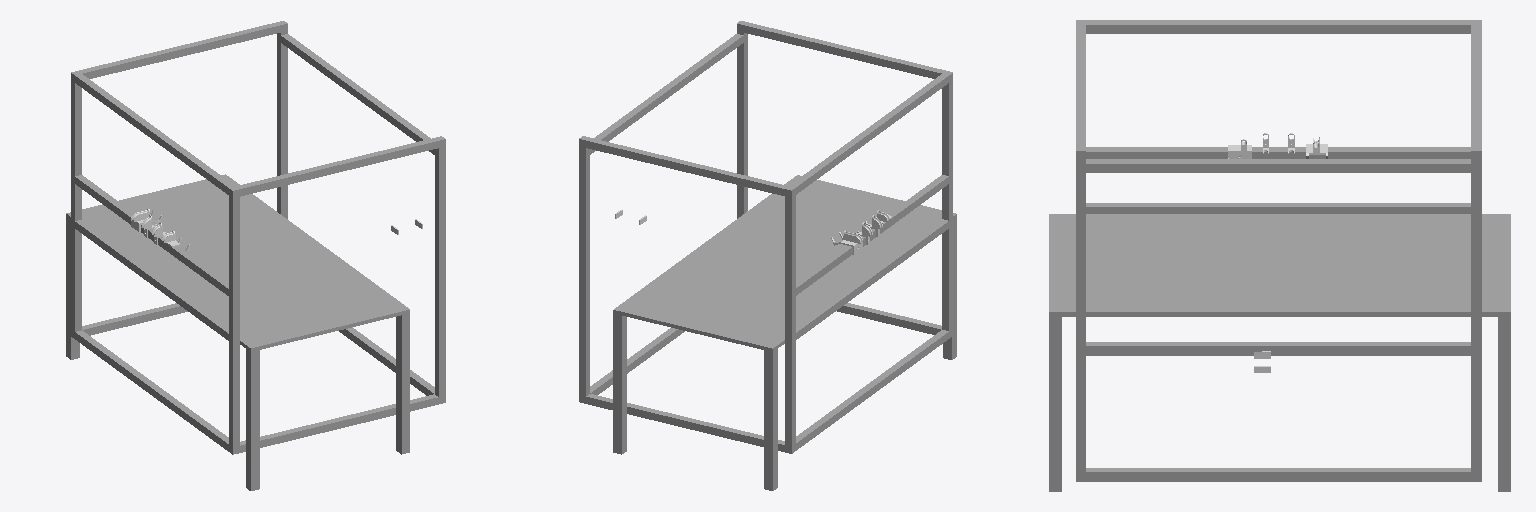
--- Facts derived from the render (not from the file) ---
Views: 3 orthographic renders of the robot side by side, from view 1: azimuth 30°, elevation 25°; view 2: azimuth 150°, elevation 25°; view 3: azimuth 270°, elevation 25°.
Model a_bot_base_scene with 82 links and 81 joints (12 revolute, 69 fixed), rooted at world, posed all joints at 0.
Visible links, largest first — view 1: workspace_table_top, cage_front_left_pillar, cage_front_right_pillar, cage_back_left_pillar, cage_upper_front_bar, cage_upper_back_bar, cage_upper_left_bar, cage_lower_left_bar, cage_workspace_bar, cage_upper_right_bar, workspace_table_base_link, cage_lower_front_bar (+6 smaller); view 2: workspace_table_top, cage_back_left_pillar, cage_back_right_pillar, cage_front_left_pillar, cage_upper_back_bar, cage_upper_front_bar, cage_upper_left_bar, cage_lower_left_bar, cage_workspace_bar, cage_upper_right_bar, workspace_table_leg2, cage_lower_back_bar (+6 smaller); view 3: workspace_table_top, cage_lower_right_bar, cage_upper_left_bar, cage_upper_right_bar, cage_lower_left_bar, cage_workspace_bar, cage_tool_bar, cage_back_right_pillar, cage_front_right_pillar, workspace_table_leg1, workspace_table_leg3, cage_upper_back_bar (+1 smaller).
Boxes of the visible links, <box> form: workspace_table_top: <box>66,174,409,351</box>; cage_front_left_pillar: <box>229,186,239,454</box>; cage_front_right_pillar: <box>435,136,445,403</box>; cage_back_left_pillar: <box>71,71,81,338</box>; cage_upper_front_bar: <box>236,138,438,196</box>; cage_upper_back_bar: <box>79,22,280,78</box>; cage_upper_left_bar: <box>75,74,234,194</box>; cage_lower_left_bar: <box>75,330,228,451</box>; cage_workspace_bar: <box>75,220,228,340</box>; cage_upper_right_bar: <box>281,34,434,154</box>; workspace_table_base_link: <box>246,349,259,490</box>; cage_lower_front_bar: <box>240,394,438,452</box>; workspace_table_top: <box>613,175,956,351</box>; cage_back_left_pillar: <box>785,186,795,453</box>; cage_back_right_pillar: <box>579,136,589,403</box>; cage_front_left_pillar: <box>942,71,952,338</box>; cage_upper_back_bar: <box>586,138,787,195</box>; cage_upper_front_bar: <box>744,22,945,78</box>; cage_upper_left_bar: <box>789,74,948,194</box>; cage_lower_left_bar: <box>796,330,948,450</box>; cage_workspace_bar: <box>796,219,948,339</box>; cage_upper_right_bar: <box>590,34,743,154</box>; workspace_table_leg2: <box>764,349,777,490</box>; cage_lower_back_bar: <box>586,394,784,451</box>; workspace_table_top: <box>1049,214,1510,316</box>; cage_lower_right_bar: <box>1086,468,1470,481</box>; cage_upper_left_bar: <box>1086,20,1470,33</box>; cage_upper_right_bar: <box>1086,159,1470,172</box>; cage_lower_left_bar: <box>1086,342,1470,355</box>; cage_workspace_bar: <box>1086,203,1470,213</box>; cage_tool_bar: <box>1086,147,1470,158</box>; cage_back_right_pillar: <box>1471,146,1481,481</box>; cage_front_right_pillar: <box>1076,146,1085,481</box>; workspace_table_leg1: <box>1049,317,1061,491</box>; workspace_table_leg3: <box>1498,317,1510,491</box>; cage_upper_back_bar: <box>1471,25,1481,145</box>.
Bounding box of the posed robot: 1.5 × 1.8 × 1.58 m (x, y, z).
Meshes: 19 distinct files referenced, 4 mesh visuals loaded (3 binary STL); not drawn: 21 (reference not matched to a file when rendering).

URDF robot description (a_bot_base_scene):
<?xml version="1.0" ?>
<!-- =================================================================================== -->
<!-- |    This document was autogenerated by xacro from /root/noetic/catkin_ws/src/artros/aist_description/scenes/urdf/a_bot_base_scene.urdf.xacro | -->
<!-- |    EDITING THIS FILE BY HAND IS NOT RECOMMENDED                                 | -->
<!-- =================================================================================== -->
<robot name="a_bot_base_scene">
    <!-- or "VelocityJointInterface" -->
    <!-- ground -->
    <link name="ground" />
    <link name="cage_front_left_pillar">
        <!-- w is in x, l is in y, h is in z -->
        <visual>
            <origin rpy="0 0 0" xyz="0.02 0.02 0.71" />
            <geometry>
                <box size="0.04 0.04 1.42" />
            </geometry>
            <material name="aist_color">
                <color rgba="0.7 0.7 0.7 1" />
            </material>
        </visual>
        <collision>
            <origin rpy="0 0 0" xyz="0.02 0.02 0.71" />
            <geometry>
                <box size="0.04 0.04 1.42" />
            </geometry>
        </collision>
        <!-- This is required for Gazebo. -->
        <inertial>
            <mass value="1.0" />
            <!-- <origin xyz="${width/2} ${length} ${height/2}" rpy="0 0 0"/> -->
            <inertia ixx="0.0" ixy="0.0" ixz="0.0" iyy="0.0" iyz="0.0" izz="0.0" />
            <origin xyz="0 0 0" rpy="0 0 0" />
        </inertial>
    </link>
    <gazebo reference="cage_front_left_pillar">
        <material>Gazebo/aist_color</material>
        <plugin name="gazebo_ros_control" filename="libgazebo_ros_control.so">
            <robotNamespace>/</robotNamespace>
        </plugin>
    </gazebo>
    <joint name="cage_front_left_pillar" type="fixed">
        <parent link="ground" />
        <child link="cage_front_left_pillar" />
        <origin rpy="0 0 0" xyz="-0.585    -0.795    0.164" />
    </joint>
    <link name="cage_front_right_pillar">
        <!-- w is in x, l is in y, h is in z -->
        <visual>
            <origin rpy="0 0 0" xyz="0.02 0.02 0.71" />
            <geometry>
                <box size="0.04 0.04 1.42" />
            </geometry>
            <material name="aist_color">
                <color rgba="0.7 0.7 0.7 1" />
            </material>
        </visual>
        <collision>
            <origin rpy="0 0 0" xyz="0.02 0.02 0.71" />
            <geometry>
                <box size="0.04 0.04 1.42" />
            </geometry>
        </collision>
        <!-- This is required for Gazebo. -->
        <inertial>
            <mass value="1.0" />
            <!-- <origin xyz="${width/2} ${length} ${height/2}" rpy="0 0 0"/> -->
            <inertia ixx="0.0" ixy="0.0" ixz="0.0" iyy="0.0" iyz="0.0" izz="0.0" />
            <origin xyz="0 0 0" rpy="0 0 0" />
        </inertial>
    </link>
    <gazebo reference="cage_front_right_pillar">
        <material>Gazebo/aist_color</material>
    </gazebo>
    <joint name="cage_front_right_pillar" type="fixed">
        <parent link="cage_front_left_pillar" />
        <child link="cage_front_right_pillar" />
        <origin rpy="0 0 0" xyz="1.16 0 0" />
    </joint>
    <link name="cage_back_left_pillar">
        <!-- w is in x, l is in y, h is in z -->
        <visual>
            <origin rpy="0 0 0" xyz="0.02 0.02 0.71" />
            <geometry>
                <box size="0.04 0.04 1.42" />
            </geometry>
            <material name="aist_color">
                <color rgba="0.7 0.7 0.7 1" />
            </material>
        </visual>
        <collision>
            <origin rpy="0 0 0" xyz="0.02 0.02 0.71" />
            <geometry>
                <box size="0.04 0.04 1.42" />
            </geometry>
        </collision>
        <!-- This is required for Gazebo. -->
        <inertial>
            <mass value="1.0" />
            <!-- <origin xyz="${width/2} ${length} ${height/2}" rpy="0 0 0"/> -->
            <inertia ixx="0.0" ixy="0.0" ixz="0.0" iyy="0.0" iyz="0.0" izz="0.0" />
            <origin xyz="0 0 0" rpy="0 0 0" />
        </inertial>
    </link>
    <gazebo reference="cage_back_left_pillar">
        <material>Gazebo/aist_color</material>
    </gazebo>
    <joint name="cage_back_left_pillar" type="fixed">
        <parent link="cage_front_left_pillar" />
        <child link="cage_back_left_pillar" />
        <origin rpy="0 0 0" xyz="0 1.54 0" />
    </joint>
    <link name="cage_back_right_pillar">
        <!-- w is in x, l is in y, h is in z -->
        <visual>
            <origin rpy="0 0 0" xyz="0.02 0.02 0.71" />
            <geometry>
                <box size="0.04 0.04 1.42" />
            </geometry>
            <material name="aist_color">
                <color rgba="0.7 0.7 0.7 1" />
            </material>
        </visual>
        <collision>
            <origin rpy="0 0 0" xyz="0.02 0.02 0.71" />
            <geometry>
                <box size="0.04 0.04 1.42" />
            </geometry>
        </collision>
        <!-- This is required for Gazebo. -->
        <inertial>
            <mass value="1.0" />
            <!-- <origin xyz="${width/2} ${length} ${height/2}" rpy="0 0 0"/> -->
            <inertia ixx="0.0" ixy="0.0" ixz="0.0" iyy="0.0" iyz="0.0" izz="0.0" />
            <origin xyz="0 0 0" rpy="0 0 0" />
        </inertial>
    </link>
    <gazebo reference="cage_back_right_pillar">
        <material>Gazebo/aist_color</material>
    </gazebo>
    <joint name="cage_back_right_pillar" type="fixed">
        <parent link="cage_front_left_pillar" />
        <child link="cage_back_right_pillar" />
        <origin rpy="0 0 0" xyz="1.16        1.54        0" />
    </joint>
    <link name="cage_lower_front_bar">
        <!-- w is in x, l is in y, h is in z -->
        <visual>
            <origin rpy="0 0 0" xyz="0.5599999999999999 0.02 0.02" />
            <geometry>
                <box size="1.1199999999999999 0.04 0.04" />
            </geometry>
            <material name="aist_color">
                <color rgba="0.7 0.7 0.7 1" />
            </material>
        </visual>
        <collision>
            <origin rpy="0 0 0" xyz="0.5599999999999999 0.02 0.02" />
            <geometry>
                <box size="1.1199999999999999 0.04 0.04" />
            </geometry>
        </collision>
        <!-- This is required for Gazebo. -->
        <inertial>
            <mass value="1.0" />
            <!-- <origin xyz="${width/2} ${length} ${height/2}" rpy="0 0 0"/> -->
            <inertia ixx="0.0" ixy="0.0" ixz="0.0" iyy="0.0" iyz="0.0" izz="0.0" />
            <origin xyz="0 0 0" rpy="0 0 0" />
        </inertial>
    </link>
    <gazebo reference="cage_lower_front_bar">
        <material>Gazebo/aist_color</material>
    </gazebo>
    <joint name="cage_lower_front_bar" type="fixed">
        <parent link="cage_front_left_pillar" />
        <child link="cage_lower_front_bar" />
        <origin rpy="0 0 0" xyz="0.04 0 0" />
    </joint>
    <link name="cage_lower_back_bar">
        <!-- w is in x, l is in y, h is in z -->
        <visual>
            <origin rpy="0 0 0" xyz="0.5599999999999999 0.02 0.02" />
            <geometry>
                <box size="1.1199999999999999 0.04 0.04" />
            </geometry>
            <material name="aist_color">
                <color rgba="0.7 0.7 0.7 1" />
            </material>
        </visual>
        <collision>
            <origin rpy="0 0 0" xyz="0.5599999999999999 0.02 0.02" />
            <geometry>
                <box size="1.1199999999999999 0.04 0.04" />
            </geometry>
        </collision>
        <!-- This is required for Gazebo. -->
        <inertial>
            <mass value="1.0" />
            <!-- <origin xyz="${width/2} ${length} ${height/2}" rpy="0 0 0"/> -->
            <inertia ixx="0.0" ixy="0.0" ixz="0.0" iyy="0.0" iyz="0.0" izz="0.0" />
            <origin xyz="0 0 0" rpy="0 0 0" />
        </inertial>
    </link>
    <gazebo reference="cage_lower_back_bar">
        <material>Gazebo/aist_color</material>
    </gazebo>
    <joint name="cage_lower_back_bar" type="fixed">
        <parent link="cage_front_left_pillar" />
        <child link="cage_lower_back_bar" />
        <origin rpy="0 0 0" xyz="0.04 1.54 0" />
    </joint>
    <link name="cage_lower_left_bar">
        <!-- w is in x, l is in y, h is in z -->
        <visual>
            <origin rpy="0 0 0" xyz="0.02 0.75 0.02" />
            <geometry>
                <box size="0.04 1.5 0.04" />
            </geometry>
            <material name="aist_color">
                <color rgba="0.7 0.7 0.7 1" />
            </material>
        </visual>
        <collision>
            <origin rpy="0 0 0" xyz="0.02 0.75 0.02" />
            <geometry>
                <box size="0.04 1.5 0.04" />
            </geometry>
        </collision>
        <!-- This is required for Gazebo. -->
        <inertial>
            <mass value="1.0" />
            <!-- <origin xyz="${width/2} ${length} ${height/2}" rpy="0 0 0"/> -->
            <inertia ixx="0.0" ixy="0.0" ixz="0.0" iyy="0.0" iyz="0.0" izz="0.0" />
            <origin xyz="0 0 0" rpy="0 0 0" />
        </inertial>
    </link>
    <gazebo reference="cage_lower_left_bar">
        <material>Gazebo/aist_color</material>
    </gazebo>
    <joint name="cage_lower_left_bar" type="fixed">
        <parent link="cage_front_left_pillar" />
        <child link="cage_lower_left_bar" />
        <origin rpy="0 0 0" xyz="0 0.04 0" />
    </joint>
    <link name="cage_lower_right_bar">
        <!-- w is in x, l is in y, h is in z -->
        <visual>
            <origin rpy="0 0 0" xyz="0.02 0.75 0.02" />
            <geometry>
                <box size="0.04 1.5 0.04" />
            </geometry>
            <material name="aist_color">
                <color rgba="0.7 0.7 0.7 1" />
            </material>
        </visual>
        <collision>
            <origin rpy="0 0 0" xyz="0.02 0.75 0.02" />
            <geometry>
                <box size="0.04 1.5 0.04" />
            </geometry>
        </collision>
        <!-- This is required for Gazebo. -->
        <inertial>
            <mass value="1.0" />
            <!-- <origin xyz="${width/2} ${length} ${height/2}" rpy="0 0 0"/> -->
            <inertia ixx="0.0" ixy="0.0" ixz="0.0" iyy="0.0" iyz="0.0" izz="0.0" />
            <origin xyz="0 0 0" rpy="0 0 0" />
        </inertial>
    </link>
    <gazebo reference="cage_lower_right_bar">
        <material>Gazebo/aist_color</material>
    </gazebo>
    <joint name="cage_lower_right_bar" type="fixed">
        <parent link="cage_front_left_pillar" />
        <child link="cage_lower_right_bar" />
        <origin rpy="0 0 0" xyz="1.16 0.04 0" />
    </joint>
    <link name="cage_upper_front_bar">
        <!-- w is in x, l is in y, h is in z -->
        <visual>
            <origin rpy="0 0 0" xyz="0.5599999999999999 0.02 0.02" />
            <geometry>
                <box size="1.1199999999999999 0.04 0.04" />
            </geometry>
            <material name="aist_color">
                <color rgba="0.7 0.7 0.7 1" />
            </material>
        </visual>
        <collision>
            <origin rpy="0 0 0" xyz="0.5599999999999999 0.02 0.02" />
            <geometry>
                <box size="1.1199999999999999 0.04 0.04" />
            </geometry>
        </collision>
        <!-- This is required for Gazebo. -->
        <inertial>
            <mass value="1.0" />
            <!-- <origin xyz="${width/2} ${length} ${height/2}" rpy="0 0 0"/> -->
            <inertia ixx="0.0" ixy="0.0" ixz="0.0" iyy="0.0" iyz="0.0" izz="0.0" />
            <origin xyz="0 0 0" rpy="0 0 0" />
        </inertial>
    </link>
    <gazebo reference="cage_upper_front_bar">
        <material>Gazebo/aist_color</material>
    </gazebo>
    <joint name="cage_upper_front_bar" type="fixed">
        <parent link="cage_front_left_pillar" />
        <child link="cage_upper_front_bar" />
        <origin rpy="0 0 0" xyz="0.04 0 1.38" />
    </joint>
    <link name="cage_upper_back_bar">
        <!-- w is in x, l is in y, h is in z -->
        <visual>
            <origin rpy="0 0 0" xyz="0.5599999999999999 0.02 0.02" />
            <geometry>
                <box size="1.1199999999999999 0.04 0.04" />
            </geometry>
            <material name="aist_color">
                <color rgba="0.7 0.7 0.7 1" />
            </material>
        </visual>
        <collision>
            <origin rpy="0 0 0" xyz="0.5599999999999999 0.02 0.02" />
            <geometry>
                <box size="1.1199999999999999 0.04 0.04" />
            </geometry>
        </collision>
        <!-- This is required for Gazebo. -->
        <inertial>
            <mass value="1.0" />
            <!-- <origin xyz="${width/2} ${length} ${height/2}" rpy="0 0 0"/> -->
            <inertia ixx="0.0" ixy="0.0" ixz="0.0" iyy="0.0" iyz="0.0" izz="0.0" />
            <origin xyz="0 0 0" rpy="0 0 0" />
        </inertial>
    </link>
    <gazebo reference="cage_upper_back_bar">
        <material>Gazebo/aist_color</material>
    </gazebo>
    <joint name="cage_upper_back_bar" type="fixed">
        <parent link="cage_front_left_pillar" />
        <child link="cage_upper_back_bar" />
        <origin rpy="0 0 0" xyz="0.04 1.54 1.38" />
    </joint>
    <link name="cage_upper_left_bar">
        <!-- w is in x, l is in y, h is in z -->
        <visual>
            <origin rpy="0 0 0" xyz="0.02 0.75 0.02" />
            <geometry>
                <box size="0.04 1.5 0.04" />
            </geometry>
            <material name="aist_color">
                <color rgba="0.7 0.7 0.7 1" />
            </material>
        </visual>
        <collision>
            <origin rpy="0 0 0" xyz="0.02 0.75 0.02" />
            <geometry>
                <box size="0.04 1.5 0.04" />
            </geometry>
        </collision>
        <!-- This is required for Gazebo. -->
        <inertial>
            <mass value="1.0" />
            <!-- <origin xyz="${width/2} ${length} ${height/2}" rpy="0 0 0"/> -->
            <inertia ixx="0.0" ixy="0.0" ixz="0.0" iyy="0.0" iyz="0.0" izz="0.0" />
            <origin xyz="0 0 0" rpy="0 0 0" />
        </inertial>
    </link>
    <gazebo reference="cage_upper_left_bar">
        <material>Gazebo/aist_color</material>
    </gazebo>
    <joint name="cage_upper_left_bar" type="fixed">
        <parent link="cage_front_left_pillar" />
        <child link="cage_upper_left_bar" />
        <origin rpy="0 0 0" xyz="0 0.04 1.38" />
    </joint>
    <link name="cage_upper_right_bar">
        <!-- w is in x, l is in y, h is in z -->
        <visual>
            <origin rpy="0 0 0" xyz="0.02 0.75 0.02" />
            <geometry>
                <box size="0.04 1.5 0.04" />
            </geometry>
            <material name="aist_color">
                <color rgba="0.7 0.7 0.7 1" />
            </material>
        </visual>
        <collision>
            <origin rpy="0 0 0" xyz="0.02 0.75 0.02" />
            <geometry>
                <box size="0.04 1.5 0.04" />
            </geometry>
        </collision>
        <!-- This is required for Gazebo. -->
        <inertial>
            <mass value="1.0" />
            <!-- <origin xyz="${width/2} ${length} ${height/2}" rpy="0 0 0"/> -->
            <inertia ixx="0.0" ixy="0.0" ixz="0.0" iyy="0.0" iyz="0.0" izz="0.0" />
            <origin xyz="0 0 0" rpy="0 0 0" />
        </inertial>
    </link>
    <gazebo reference="cage_upper_right_bar">
        <material>Gazebo/aist_color</material>
    </gazebo>
    <joint name="cage_upper_right_bar" type="fixed">
        <parent link="cage_front_left_pillar" />
        <child link="cage_upper_right_bar" />
        <origin rpy="0 0 0" xyz="1.16 0.04 1.325" />
    </joint>
    <link name="cage_workspace_bar">
        <!-- w is in x, l is in y, h is in z -->
        <visual>
            <origin rpy="0 0 0" xyz="0.02 0.75 0.02" />
            <geometry>
                <box size="0.04 1.5 0.04" />
            </geometry>
            <material name="aist_color">
                <color rgba="0.7 0.7 0.7 1" />
            </material>
        </visual>
        <collision>
            <origin rpy="0 0 0" xyz="0.02 0.75 0.02" />
            <geometry>
                <box size="0.04 1.5 0.04" />
            </geometry>
        </collision>
        <!-- This is required for Gazebo. -->
        <inertial>
            <mass value="1.0" />
            <!-- <origin xyz="${width/2} ${length} ${height/2}" rpy="0 0 0"/> -->
            <inertia ixx="0.0" ixy="0.0" ixz="0.0" iyy="0.0" iyz="0.0" izz="0.0" />
            <origin xyz="0 0 0" rpy="0 0 0" />
        </inertial>
    </link>
    <gazebo reference="cage_workspace_bar">
        <material>Gazebo/aist_color</material>
    </gazebo>
    <joint name="cage_workspace_bar" type="fixed">
        <parent link="cage_lower_left_bar" />
        <child link="cage_workspace_bar" />
        <origin rpy="0 0 0" xyz="0 0 0.596" />
    </joint>
    <link name="cage_tool_bar">
        <!-- w is in x, l is in y, h is in z -->
        <visual>
            <origin rpy="0 0 0" xyz="0.02 0.75 0.02" />
            <geometry>
                <box size="0.04 1.5 0.04" />
            </geometry>
            <material name="aist_color">
                <color rgba="0.7 0.7 0.7 1" />
            </material>
        </visual>
        <collision>
            <origin rpy="0 0 0" xyz="0.02 0.75 0.02" />
            <geometry>
                <box size="0.04 1.5 0.04" />
            </geometry>
        </collision>
        <!-- This is required for Gazebo. -->
        <inertial>
            <mass value="1.0" />
            <!-- <origin xyz="${width/2} ${length} ${height/2}" rpy="0 0 0"/> -->
            <inertia ixx="0.0" ixy="0.0" ixz="0.0" iyy="0.0" iyz="0.0" izz="0.0" />
            <origin xyz="0 0 0" rpy="0 0 0" />
        </inertial>
    </link>
    <gazebo reference="cage_tool_bar">
        <material>Gazebo/aist_color</material>
    </gazebo>
    <joint name="cage_tool_bar" type="fixed">
        <parent link="cage_workspace_bar" />
        <child link="cage_tool_bar" />
        <origin rpy="0 0 0" xyz="0 0 0.24" />
    </joint>
    <link name="workspace_table_base_link">
        <!-- w is in x, l is in y, h is in z -->
        <visual>
            <origin rpy="0 0 0" xyz="0.025 0.025 0.375" />
            <geometry>
                <box size="0.05 0.05 0.75" />
            </geometry>
            <material name="aist_color">
                <color rgba="0.7 0.7 0.7 1" />
            </material>
        </visual>
        <collision>
            <origin rpy="0 0 0" xyz="0.025 0.025 0.375" />
            <geometry>
                <box size="0.05 0.05 0.75" />
            </geometry>
        </collision>
        <!-- This is required for Gazebo. -->
        <inertial>
            <mass value="1.0" />
            <!-- <origin xyz="${width/2} ${length} ${height/2}" rpy="0 0 0"/> -->
            <inertia ixx="0.0" ixy="0.0" ixz="0.0" iyy="0.0" iyz="0.0" izz="0.0" />
            <origin xyz="0 0 0" rpy="0 0 0" />
        </inertial>
    </link>
    <gazebo reference="workspace_table_base_link">
        <material>Gazebo/aist_color</material>
    </gazebo>
    <joint name="workspace_table_base_link" type="fixed">
        <parent link="ground" />
        <child link="workspace_table_base_link" />
        <origin rpy="0 0 0" xyz="-0.5449999999999999 -0.9 0" />
    </joint>
    <link name="workspace_table_leg1">
        <!-- w is in x, l is in y, h is in z -->
        <visual>
            <origin rpy="0 0 0" xyz="0.025 0.025 0.375" />
            <geometry>
                <box size="0.05 0.05 0.75" />
            </geometry>
            <material name="aist_color">
                <color rgba="0.7 0.7 0.7 1" />
            </material>
        </visual>
        <collision>
            <origin rpy="0 0 0" xyz="0.025 0.025 0.375" />
            <geometry>
                <box size="0.05 0.05 0.75" />
            </geometry>
        </collision>
        <!-- This is required for Gazebo. -->
        <inertial>
            <mass value="1.0" />
            <!-- <origin xyz="${width/2} ${length} ${height/2}" rpy="0 0 0"/> -->
            <inertia ixx="0.0" ixy="0.0" ixz="0.0" iyy="0.0" iyz="0.0" izz="0.0" />
            <origin xyz="0 0 0" rpy="0 0 0" />
        </inertial>
    </link>
    <gazebo reference="workspace_table_leg1">
        <material>Gazebo/aist_color</material>
    </gazebo>
    <joint name="workspace_table_leg1" type="fixed">
        <parent link="workspace_table_base_link" />
        <child link="workspace_table_leg1" />
        <origin rpy="0 0 0" xyz="0.85 0 0" />
    </joint>
    <link name="workspace_table_leg2">
        <!-- w is in x, l is in y, h is in z -->
        <visual>
            <origin rpy="0 0 0" xyz="0.025 0.025 0.375" />
            <geometry>
                <box size="0.05 0.05 0.75" />
            </geometry>
            <material name="aist_color">
                <color rgba="0.7 0.7 0.7 1" />
            </material>
        </visual>
        <collision>
            <origin rpy="0 0 0" xyz="0.025 0.025 0.375" />
            <geometry>
                <box size="0.05 0.05 0.75" />
            </geometry>
        </collision>
        <!-- This is required for Gazebo. -->
        <inertial>
            <mass value="1.0" />
            <!-- <origin xyz="${width/2} ${length} ${height/2}" rpy="0 0 0"/> -->
            <inertia ixx="0.0" ixy="0.0" ixz="0.0" iyy="0.0" iyz="0.0" izz="0.0" />
            <origin xyz="0 0 0" rpy="0 0 0" />
        </inertial>
    </link>
    <gazebo reference="workspace_table_leg2">
        <material>Gazebo/aist_color</material>
    </gazebo>
    <joint name="workspace_table_leg2" type="fixed">
        <parent link="workspace_table_base_link" />
        <child link="workspace_table_leg2" />
        <origin rpy="0 0 0" xyz="0 1.75 0" />
    </joint>
    <link name="workspace_table_leg3">
        <!-- w is in x, l is in y, h is in z -->
        <visual>
            <origin rpy="0 0 0" xyz="0.025 0.025 0.375" />
            <geometry>
                <box size="0.05 0.05 0.75" />
            </geometry>
            <material name="aist_color">
                <color rgba="0.7 0.7 0.7 1" />
            </material>
        </visual>
        <collision>
            <origin rpy="0 0 0" xyz="0.025 0.025 0.375" />
            <geometry>
                <box size="0.05 0.05 0.75" />
            </geometry>
        </collision>
        <!-- This is required for Gazebo. -->
        <inertial>
            <mass value="1.0" />
            <!-- <origin xyz="${width/2} ${length} ${height/2}" rpy="0 0 0"/> -->
            <inertia ixx="0.0" ixy="0.0" ixz="0.0" iyy="0.0" iyz="0.0" izz="0.0" />
            <origin xyz="0 0 0" rpy="0 0 0" />
        </inertial>
    </link>
    <gazebo reference="workspace_table_leg3">
        <material>Gazebo/aist_color</material>
    </gazebo>
    <joint name="workspace_table_leg3" type="fixed">
        <parent link="workspace_table_base_link" />
        <child link="workspace_table_leg3" />
        <origin rpy="0 0 0" xyz="0.85      1.75      0" />
    </joint>
    <link name="workspace_table_top">
        <!-- w is in x, l is in y, h is in z -->
        <visual>
            <origin rpy="0 0 0" xyz="0.45 0.9 0.01" />
            <geometry>
                <box size="0.9 1.8 0.02" />
            </geometry>
            <material name="aist_color">
                <color rgba="0.7 0.7 0.7 1" />
            </material>
        </visual>
        <collision>
            <origin rpy="0 0 0" xyz="0.45 0.9 0.01" />
            <geometry>
                <box size="0.9 1.8 0.02" />
            </geometry>
        </collision>
        <!-- This is required for Gazebo. -->
        <inertial>
            <mass value="1.0" />
            <!-- <origin xyz="${width/2} ${length} ${height/2}" rpy="0 0 0"/> -->
            <inertia ixx="0.0" ixy="0.0" ixz="0.0" iyy="0.0" iyz="0.0" izz="0.0" />
            <origin xyz="0 0 0" rpy="0 0 0" />
        </inertial>
    </link>
    <gazebo reference="workspace_table_top">
        <material>Gazebo/aist_color</material>
    </gazebo>
    <joint name="workspace_table_top" type="fixed">
        <parent link="workspace_table_base_link" />
        <child link="workspace_table_top" />
        <origin rpy="0 0 0" xyz="0 0 0.75" />
    </joint>
    <joint name="workspace_table_top_origin_joint" type="fixed">
        <parent link="workspace_table_top" />
        <child link="workspace_table_top_origin" />
        <origin rpy="0 0 0" xyz="0 0 0.02" />
    </joint>
    <link name="workspace_table_top_origin" />
    <joint name="workspace_table_top_center_joint" type="fixed">
        <parent link="workspace_table_top_origin" />
        <child link="workspace_table_top_center" />
        <origin rpy="0 0 0" xyz="0.45 0.9 0" />
    </joint>
    <link name="workspace_table_top_center" />
    <link name="workspace_center" />
    <joint name="ground_to_workspace" type="fixed">
        <parent link="ground" />
        <child link="workspace_center" />
        <origin rpy="0 0 0" xyz="0 0 0.77" />
    </joint>
    <!-- A link representing the gripper and a joint attaching it to parnet -->
    <link name="precision_tool_holder_base_link">
        <visual>
            <origin rpy="0 0 3.141592653589793" xyz="0.040 0 0" />
            <geometry>
                <mesh filename="package://aist_description/objects/meshes/precision_tool_holder.stl" scale="0.001 0.001 0.001" />
            </geometry>
            <material name="white">
                <color rgba="0.9 0.9 0.9 1" />
            </material>
        </visual>
        <collision>
            <!-- avoid collision -->
            <origin rpy="0 0 3.141592653589793" xyz="0.040 0 0" />
            <geometry>
                <mesh filename="package://aist_description/objects/meshes/precision_tool_holder.stl" scale="0.001 0.001 0.001" />
            </geometry>
        </collision>
        <inertial>
            <mass value="0.1" />
            <origin xyz="0 0 0" rpy="0 0 0" />
            <inertia ixx="0.03" iyy="0.03" izz="0.03" ixy="0.0" ixz="0.0" iyz="0.0" />
        </inertial>
    </link>
    <joint name="precision_tool_holder_base_joint" type="fixed">
        <parent link="cage_tool_bar" />
        <child link="precision_tool_holder_base_link" />
        <origin rpy="0 0 0" xyz="0 0.6 0.04" />
    </joint>
    <!-- A link representing the tool of the pad and a joint attaching
	 it to the gripper -->
    <link name="precision_tool_holder_link" />
    <joint name="precision_tool_holder_joint" type="fixed">
        <parent link="precision_tool_holder_base_link" />
        <child link="precision_tool_holder_link" />
        <origin rpy="0 0.5235987755982988 0" xyz="0.108 0.012 0.037" />
    </joint>
    <!-- A link representing the gripper and a joint attaching it to parnet -->
    <link name="screw_tool_m3_holder_base_link">
        <visual>
            <origin rpy="0 0 0" xyz="0 0 0" />
            <geometry>
                <mesh filename="package://aist_description/objects/meshes/screw_tool_holder.stl" scale="0.001 0.001 0.001" />
            </geometry>
            <material name="white">
                <color rgba="0.9 0.9 0.9 1" />
            </material>
        </visual>
        <collision>
            <!-- avoid collision -->
            <origin rpy="0 0 0" xyz="0 0 0" />
            <geometry>
                <mesh filename="package://aist_description/objects/meshes/screw_tool_holder.stl" scale="0.001 0.001 0.001" />
            </geometry>
        </collision>
        <inertial>
            <mass value="0.1" />
            <origin xyz="0 0 0" rpy="0 0 0" />
            <inertia ixx="0.03" iyy="0.03" izz="0.03" ixy="0.0" ixz="0.0" iyz="0.0" />
        </inertial>
    </link>
    <joint name="screw_tool_m3_holder_base_joint" type="fixed">
        <parent link="cage_tool_bar" />
        <child link="screw_tool_m3_holder_base_link" />
        <origin rpy="0 0 0" xyz="0 0.7 0.04" />
    </joint>
    <!-- A link representing the tool of the pad and a joint attaching
	 it to the gripper -->
    <link name="screw_tool_m3_holder_link" />
    <joint name="screw_tool_m3_holder_joint" type="fixed">
        <parent link="screw_tool_m3_holder_base_link" />
        <child link="screw_tool_m3_holder_link" />
        <origin rpy="0 0 0" xyz="0.0525 0 0.007" />
    </joint>
    <!-- A link representing the gripper and a joint attaching it to parnet -->
    <link name="screw_tool_m4_holder_base_link">
        <visual>
            <origin rpy="0 0 0" xyz="0 0 0" />
            <geometry>
                <mesh filename="package://aist_description/objects/meshes/screw_tool_holder.stl" scale="0.001 0.001 0.001" />
            </geometry>
            <material name="white">
                <color rgba="0.9 0.9 0.9 1" />
            </material>
        </visual>
        <collision>
            <!-- avoid collision -->
            <origin rpy="0 0 0" xyz="0 0 0" />
            <geometry>
                <mesh filename="package://aist_description/objects/meshes/screw_tool_holder.stl" scale="0.001 0.001 0.001" />
            </geometry>
        </collision>
        <inertial>
            <mass value="0.1" />
            <origin xyz="0 0 0" rpy="0 0 0" />
            <inertia ixx="0.03" iyy="0.03" izz="0.03" ixy="0.0" ixz="0.0" iyz="0.0" />
        </inertial>
    </link>
    <joint name="screw_tool_m4_holder_base_joint" type="fixed">
        <parent link="cage_tool_bar" />
        <child link="screw_tool_m4_holder_base_link" />
        <origin rpy="0 0 0" xyz="0 0.8 0.04" />
    </joint>
    <!-- A link representing the tool of the pad and a joint attaching
	 it to the gripper -->
    <link name="screw_tool_m4_holder_link" />
    <joint name="screw_tool_m4_holder_joint" type="fixed">
        <parent link="screw_tool_m4_holder_base_link" />
        <child link="screw_tool_m4_holder_link" />
        <origin rpy="0 0 0" xyz="0.0525 0 0.007" />
    </joint>
    <!-- A link representing the gripper and a joint attaching it to parnet -->
    <link name="suction_tool_holder_base_link">
        <visual>
            <origin rpy="0 0 3.141592653589793" xyz="0.040 0 0" />
            <geometry>
                <mesh filename="package://aist_description/objects/meshes/suction_tool_holder.stl" scale="0.001 0.001 0.001" />
            </geometry>
            <material name="white">
                <color rgba="0.9 0.9 0.9 1" />
            </material>
        </visual>
        <collision>
            <!-- avoid collision -->
            <origin rpy="0 0 3.141592653589793" xyz="0.040 0 0" />
            <geometry>
                <mesh filename="package://aist_description/objects/meshes/suction_tool_holder.stl" scale="0.001 0.001 0.001" />
            </geometry>
        </collision>
        <inertial>
            <mass value="0.1" />
            <origin xyz="0 0 0" rpy="0 0 0" />
            <inertia ixx="0.03" iyy="0.03" izz="0.03" ixy="0.0" ixz="0.0" iyz="0.0" />
        </inertial>
    </link>
    <joint name="suction_tool_holder_base_joint" type="fixed">
        <parent link="cage_tool_bar" />
        <child link="suction_tool_holder_base_link" />
        <origin rpy="0 0 0" xyz="0 0.9 0.04" />
    </joint>
    <!-- A link representing the tool of the pad and a joint attaching
	 it to the gripper -->
    <link name="suction_tool_holder_link" />
    <joint name="suction_tool_holder_joint" type="fixed">
        <parent link="suction_tool_holder_base_link" />
        <child link="suction_tool_holder_link" />
        <origin rpy="0 0.5235987755982988 0" xyz="0.11032 0.000 0.03784" />
    </joint>
    <!--
    Main xacro macro definition of the "Gazebo robot" model.

    This wraps the model of the real robot and adds all elements and parameters
    required by Gazebo.

    It also adds the gazebo_ros_control plugin.

    NOTE: this is NOT a URDF. It cannot directly be loaded by consumers
    expecting a flattened '.urdf' file. See the top-level '.xacro' for that
    (but note: that .xacro must still be processed by the xacro command).

    For use in '.launch' files: use one of the 'load_urX.launch' convenience
    launch files.

    NOTE: this Gazebo model makes use of the same set of parameter files as the
    main xacro macro (in ur_description). It is therefor possible to use the
    kinematic calibration exported from a REAL UR robot. Please refer to the
    ur_macro.xacro in ur_description for more information about this.

    Main author of the migration to yaml configs: Ludovic Delval.

    Contributors to previous versions (in no particular order):

     - Felix Messmer
     - Kelsey Hawkins
     - Shaun Edwards
     - Alexander Bubeck
     - Nadia Hammoudeh Garcia
     - G. vd. Hoorn
     - Dave Niewinski
     - Andy Zelenak
     - Miguel Prada
     - Mathias Luedtke
     - Hans-Joachim Krauch
     - Felix Exner
  -->
    <!--
    Base UR robot series xacro macro.

    NOTE: this is NOT a URDF. It cannot directly be loaded by consumers
    expecting a flattened '.urdf' file. See the top-level '.xacro' for that
    (but note: that .xacro must still be processed by the xacro command).

    For use in '.launch' files: use one of the 'load_urX.launch' convenience
    launch files.

    This file models the base kinematic chain of a UR robot, which then gets
    parameterised by various configuration files to convert it into a UR3(e),
    UR5(e), UR10(e), UR16e, UR20 or UR30.

    NOTE: the default kinematic parameters (ie: link lengths, frame locations,
    offets, etc) do not correspond to any particular robot. They are defaults
    only. There WILL be non-zero offsets between the Forward Kinematics results
    in TF (ie: robot_state_publisher) and the values reported by the Teach
    Pendant.

    For accurate (and robot-specific) transforms, the 'kinematics_parameters_file'
    parameter MUST point to a .yaml file containing the appropriate values for
    the targetted robot.

    If using the UniversalRobots/Universal_Robots_ROS_Driver, follow the steps
    described in the readme of that repository to extract the kinematic
    calibration from the controller and generate the required .yaml file.

    Main author of the migration to yaml configs: Ludovic Delval.

    Contributors to previous versions (in no particular order):

     - Felix Messmer
     - Kelsey Hawkins
     - Wim Meeussen
     - Shaun Edwards
     - Nadia Hammoudeh Garcia
     - Dave Hershberger
     - G. vd. Hoorn
     - Philip Long
     - Dave Coleman
     - Miguel Prada
     - Mathias Luedtke
     - Marcel Schnirring
     - Felix von Drigalski
     - Felix Exner
     - Jimmy Da Silva
     - Ajit Krisshna N L
     - Muhammad Asif Rana
  -->
    <!--
    NOTE: the macro defined in this file is NOT part of the public API of this
          package. Users CANNOT rely on this file being available, or stored in
          this location. Nor can they rely on the existence of the macro.
  -->
    <transmission name="a_bot_shoulder_pan_trans">
        <type>transmission_interface/SimpleTransmission</type>
        <joint name="a_bot_shoulder_pan_joint">
            <hardwareInterface>hardware_interface/PositionJointInterface</hardwareInterface>
        </joint>
        <actuator name="a_bot_shoulder_pan_motor">
            <mechanicalReduction>1</mechanicalReduction>
            <hardwareInterface>hardware_interface/EffortJointInterface</hardwareInterface>
        </actuator>
    </transmission>
    <transmission name="a_bot_shoulder_lift_trans">
        <type>transmission_interface/SimpleTransmission</type>
        <joint name="a_bot_shoulder_lift_joint">
            <hardwareInterface>hardware_interface/PositionJointInterface</hardwareInterface>
        </joint>
        <actuator name="a_bot_shoulder_lift_motor">
            <mechanicalReduction>1</mechanicalReduction>
            <hardwareInterface>hardware_interface/EffortJointInterface</hardwareInterface>
        </actuator>
    </transmission>
    <transmission name="a_bot_elbow_trans">
        <type>transmission_interface/SimpleTransmission</type>
        <joint name="a_bot_elbow_joint">
            <hardwareInterface>hardware_interface/PositionJointInterface</hardwareInterface>
        </joint>
        <actuator name="a_bot_elbow_motor">
            <mechanicalReduction>1</mechanicalReduction>
            <hardwareInterface>hardware_interface/EffortJointInterface</hardwareInterface>
        </actuator>
    </transmission>
    <transmission name="a_bot_wrist_1_trans">
        <type>transmission_interface/SimpleTransmission</type>
        <joint name="a_bot_wrist_1_joint">
            <hardwareInterface>hardware_interface/PositionJointInterface</hardwareInterface>
        </joint>
        <actuator name="a_bot_wrist_1_motor">
            <mechanicalReduction>1</mechanicalReduction>
            <hardwareInterface>hardware_interface/EffortJointInterface</hardwareInterface>
        </actuator>
    </transmission>
    <transmission name="a_bot_wrist_2_trans">
        <type>transmission_interface/SimpleTransmission</type>
        <joint name="a_bot_wrist_2_joint">
            <hardwareInterface>hardware_interface/PositionJointInterface</hardwareInterface>
        </joint>
        <actuator name="a_bot_wrist_2_motor">
            <mechanicalReduction>1</mechanicalReduction>
            <hardwareInterface>hardware_interface/EffortJointInterface</hardwareInterface>
        </actuator>
    </transmission>
    <transmission name="a_bot_wrist_3_trans">
        <type>transmission_interface/SimpleTransmission</type>
        <joint name="a_bot_wrist_3_joint">
            <hardwareInterface>hardware_interface/PositionJointInterface</hardwareInterface>
        </joint>
        <actuator name="a_bot_wrist_3_motor">
            <mechanicalReduction>1</mechanicalReduction>
            <hardwareInterface>hardware_interface/EffortJointInterface</hardwareInterface>
        </actuator>
    </transmission>
    <!-- links: main serial chain -->
    <link name="a_bot_base_link" />
    <link name="a_bot_base_link_inertia">
        <visual>
            <origin rpy="0 0 3.141592653589793" xyz="0 0 0" />
            <geometry>
                <mesh filename="package://ur_description/meshes/ur5/visual/base.dae" />
            </geometry>
            <material name="LightGrey">
                <color rgba="0.7 0.7 0.7 1.0" />
            </material>
        </visual>
        <collision>
            <origin rpy="0 0 3.141592653589793" xyz="0 0 0" />
            <geometry>
                <mesh filename="package://ur_description/meshes/ur5/collision/base.stl" />
            </geometry>
        </collision>
        <inertial>
            <mass value="4.0" />
            <origin rpy="0 0 0" xyz="0 0 0" />
            <inertia ixx="0.00443333156" ixy="0.0" ixz="0.0" iyy="0.00443333156" iyz="0.0" izz="0.0072" />
        </inertial>
    </link>
    <link name="a_bot_shoulder_link">
        <visual>
            <origin rpy="0 0 3.141592653589793" xyz="0 0 0" />
            <geometry>
                <mesh filename="package://ur_description/meshes/ur5/visual/shoulder.dae" />
            </geometry>
            <material name="LightGrey">
                <color rgba="0.7 0.7 0.7 1.0" />
            </material>
        </visual>
        <collision>
            <origin rpy="0 0 3.141592653589793" xyz="0 0 0" />
            <geometry>
                <mesh filename="package://ur_description/meshes/ur5/collision/shoulder.stl" />
            </geometry>
        </collision>
        <inertial>
            <mass value="3.7" />
            <origin rpy="0 0 0" xyz="0 0 0" />
            <inertia ixx="0.014972352344389999" ixy="0.0" ixz="0.0" iyy="0.014972352344389999" iyz="0.0" izz="0.01040625" />
        </inertial>
    </link>
    <link name="a_bot_upper_arm_link">
        <visual>
            <origin rpy="1.5707963267948966 0 -1.5707963267948966" xyz="0 0 0.13585" />
            <geometry>
                <mesh filename="package://ur_description/meshes/ur5/visual/upperarm.dae" />
            </geometry>
            <material name="LightGrey">
                <color rgba="0.7 0.7 0.7 1.0" />
            </material>
        </visual>
        <collision>
            <origin rpy="1.5707963267948966 0 -1.5707963267948966" xyz="0 0 0.13585" />
            <geometry>
                <mesh filename="package://ur_description/meshes/ur5/collision/upperarm.stl" />
            </geometry>
        </collision>
        <inertial>
            <mass value="8.393" />
            <origin rpy="0 1.5707963267948966 0" xyz="-0.2125 0.0 0.136" />
            <inertia ixx="0.1338857818623325" ixy="0.0" ixz="0.0" iyy="0.1338857818623325" iyz="0.0" izz="0.0151074" />
        </inertial>
    </link>
    <link name="a_bot_forearm_link">
        <visual>
            <origin rpy="1.5707963267948966 0 -1.5707963267948966" xyz="0 0 0.0165" />
            <geometry>
                <mesh filename="package://ur_description/meshes/ur5/visual/forearm.dae" />
            </geometry>
            <material name="LightGrey">
                <color rgba="0.7 0.7 0.7 1.0" />
            </material>
        </visual>
        <collision>
            <origin rpy="1.5707963267948966 0 -1.5707963267948966" xyz="0 0 0.0165" />
            <geometry>
                <mesh filename="package://ur_description/meshes/ur5/collision/forearm.stl" />
            </geometry>
        </collision>
        <inertial>
            <mass value="2.275" />
            <origin rpy="0 1.5707963267948966 0" xyz="-0.196125 0.0 0.0165" />
            <inertia ixx="0.03121679102890359" ixy="0.0" ixz="0.0" iyy="0.03121679102890359" iyz="0.0" izz="0.004095" />
        </inertial>
    </link>
    <link name="a_bot_wrist_1_link">
        <visual>
            <!-- TODO: Move this to a parameter -->
            <origin rpy="1.5707963267948966 0 0" xyz="0 0 -0.093" />
            <geometry>
                <mesh filename="package://ur_description/meshes/ur5/visual/wrist1.dae" />
            </geometry>
            <material name="LightGrey">
                <color rgba="0.7 0.7 0.7 1.0" />
            </material>
        </visual>
        <collision>
            <origin rpy="1.5707963267948966 0 0" xyz="0 0 -0.093" />
            <geometry>
                <mesh filename="package://ur_description/meshes/ur5/collision/wrist1.stl" />
            </geometry>
        </collision>
        <inertial>
            <mass value="1.219" />
            <origin rpy="0 0 0" xyz="0 0 0" />
            <inertia ixx="0.0020138887777775" ixy="0.0" ixz="0.0" iyy="0.0020138887777775" iyz="0.0" izz="0.0021942" />
        </inertial>
    </link>
    <link name="a_bot_wrist_2_link">
        <visual>
            <origin rpy="0 0 0" xyz="0 0 -0.095" />
            <geometry>
                <mesh filename="package://ur_description/meshes/ur5/visual/wrist2.dae" />
            </geometry>
            <material name="LightGrey">
                <color rgba="0.7 0.7 0.7 1.0" />
            </material>
        </visual>
        <collision>
            <origin rpy="0 0 0" xyz="0 0 -0.095" />
            <geometry>
                <mesh filename="package://ur_description/meshes/ur5/collision/wrist2.stl" />
            </geometry>
        </collision>
        <inertial>
            <mass value="1.219" />
            <origin rpy="0 0 0" xyz="0 0 0" />
            <inertia ixx="0.0018310388509175" ixy="0.0" ixz="0.0" iyy="0.0018310388509175" iyz="0.0" izz="0.0021942" />
        </inertial>
    </link>
    <link name="a_bot_wrist_3_link">
        <visual>
            <origin rpy="1.5707963267948966 0 0" xyz="0 0 -0.0818" />
            <geometry>
                <mesh filename="package://ur_description/meshes/ur5/visual/wrist3.dae" />
            </geometry>
            <material name="LightGrey">
                <color rgba="0.7 0.7 0.7 1.0" />
            </material>
        </visual>
        <collision>
            <origin rpy="1.5707963267948966 0 0" xyz="0 0 -0.0818" />
            <geometry>
                <mesh filename="package://ur_description/meshes/ur5/collision/wrist3.stl" />
            </geometry>
        </collision>
        <inertial>
            <mass value="0.1879" />
            <origin rpy="0 0 0" xyz="0.0 0.0 -0.01525" />
            <inertia ixx="8.062472608343e-05" ixy="0.0" ixz="0.0" iyy="8.062472608343e-05" iyz="0.0" izz="0.0001321171875" />
        </inertial>
    </link>
    <!-- joints: main serial chain -->
    <joint name="a_bot_base_link-base_link_inertia" type="fixed">
        <parent link="a_bot_base_link" />
        <child link="a_bot_base_link_inertia" />
        <!-- 'base_link' is REP-103 aligned (so X+ forward), while the internal
           frames of the robot/controller have X+ pointing backwards.
           Use the joint between 'base_link' and 'base_link_inertia' (a dummy
           link/frame) to introduce the necessary rotation over Z (of pi rad).
      -->
        <origin rpy="0 0 3.141592653589793" xyz="0 0 0" />
    </joint>
    <joint name="a_bot_shoulder_pan_joint" type="revolute">
        <parent link="a_bot_base_link_inertia" />
        <child link="a_bot_shoulder_link" />
        <origin rpy="0 0 -1.372428740606553e-05" xyz="0 0 0.0892795739838422" />
        <axis xyz="0 0 1" />
        <limit effort="150.0" lower="-6.283185307179586" upper="6.283185307179586" velocity="3.141592653589793" />
        <safety_controller k_position="20" k_velocity="0.0" soft_lower_limit="-5.983185307179586" soft_upper_limit="5.983185307179586" />
        <dynamics damping="0" friction="0" />
    </joint>
    <joint name="a_bot_shoulder_lift_joint" type="revolute">
        <parent link="a_bot_shoulder_link" />
        <child link="a_bot_upper_arm_link" />
        <origin rpy="1.570642973887296 0 1.159216330228952e-05" xyz="0.0001298333079647873 0 0" />
        <axis xyz="0 0 1" />
        <limit effort="150.0" lower="-6.283185307179586" upper="6.283185307179586" velocity="3.141592653589793" />
        <safety_controller k_position="20" k_velocity="0.0" soft_lower_limit="-5.983185307179586" soft_upper_limit="5.983185307179586" />
        <dynamics damping="0" friction="0" />
    </joint>
    <joint name="a_bot_elbow_joint" type="revolute">
        <parent link="a_bot_upper_arm_link" />
        <child link="a_bot_forearm_link" />
        <origin rpy="3.141544575566677 3.141258056989769 -3.141547941357519" xyz="-0.4249927407255726 0 0" />
        <axis xyz="0 0 1" />
        <limit effort="150.0" lower="-3.141592653589793" upper="3.141592653589793" velocity="3.141592653589793" />
        <safety_controller k_position="20" k_velocity="0.0" soft_lower_limit="-2.8415926535897933" soft_upper_limit="2.8415926535897933" />
        <dynamics damping="0" friction="0" />
    </joint>
    <joint name="a_bot_wrist_1_joint" type="revolute">
        <parent link="a_bot_forearm_link" />
        <child link="a_bot_wrist_1_link" />
        <origin rpy="3.131098971659387 3.138979604311949 3.141566100969229" xyz="-0.3919582400771999 0.001161330843866965 0.1106654674396762" />
        <axis xyz="0 0 1" />
        <limit effort="28.0" lower="-6.283185307179586" upper="6.283185307179586" velocity="3.141592653589793" />
        <safety_controller k_position="20" k_velocity="0.0" soft_lower_limit="-5.983185307179586" soft_upper_limit="5.983185307179586" />
        <dynamics damping="0" friction="0" />
    </joint>
    <joint name="a_bot_wrist_2_joint" type="revolute">
        <parent link="a_bot_wrist_1_link" />
        <child link="a_bot_wrist_2_link" />
        <origin rpy="1.570125949318306 0 1.99895973980563e-05" xyz="-0.0002553647085556869 -0.09473296389451868 6.350685479905706e-05" />
        <axis xyz="0 0 1" />
        <limit effort="28.0" lower="-6.283185307179586" upper="6.283185307179586" velocity="3.141592653589793" />
        <safety_controller k_position="20" k_velocity="0.0" soft_lower_limit="-5.983185307179586" soft_upper_limit="5.983185307179586" />
        <dynamics damping="0" friction="0" />
    </joint>
    <joint name="a_bot_wrist_3_joint" type="revolute">
        <parent link="a_bot_wrist_2_link" />
        <child link="a_bot_wrist_3_link" />
        <origin rpy="1.571145759762365 3.141592653589793 -3.141518379713017" xyz="0.0002769113618036503 0.08232662392091306 2.876763766918989e-05" />
        <axis xyz="0 0 1" />
        <limit effort="28.0" lower="-6.283185307179586" upper="6.283185307179586" velocity="3.141592653589793" />
        <safety_controller k_position="20" k_velocity="0.0" soft_lower_limit="-5.983185307179586" soft_upper_limit="5.983185307179586" />
        <dynamics damping="0" friction="0" />
    </joint>
    <!-- ROS-Industrial 'base' frame: base_link to UR 'Base' Coordinates transform -->
    <link name="a_bot_base" />
    <joint name="a_bot_base_link-base_fixed_joint" type="fixed">
        <!-- Note the rotation over Z of pi radians: as base_link is REP-103
           aligned (ie: has X+ forward, Y+ left and Z+ up), this is needed
           to correctly align 'base' with the 'Base' coordinate system of
           the UR controller.
      -->
        <origin rpy="0 0 3.141592653589793" xyz="0 0 0" />
        <parent link="a_bot_base_link" />
        <child link="a_bot_base" />
    </joint>
    <!-- ROS-Industrial 'flange' frame: attachment point for EEF models -->
    <link name="a_bot_flange" />
    <joint name="a_bot_wrist_3-flange" type="fixed">
        <parent link="a_bot_wrist_3_link" />
        <child link="a_bot_flange" />
        <origin rpy="0 -1.5707963267948966 -1.5707963267948966" xyz="0 0 0" />
    </joint>
    <!-- ROS-Industrial 'tool0' frame: all-zeros tool frame -->
    <link name="a_bot_tool0" />
    <joint name="a_bot_flange-tool0" type="fixed">
        <!-- default toolframe: X+ left, Y+ up, Z+ front -->
        <origin rpy="1.5707963267948966 0 1.5707963267948966" xyz="0 0 0" />
        <parent link="a_bot_flange" />
        <child link="a_bot_tool0" />
    </joint>
    <!-- Configure self collision properties per link -->
    <gazebo reference="a_bot_shoulder_link">
        <selfCollide>true</selfCollide>
    </gazebo>
    <gazebo reference="a_bot_upper_arm_link">
        <selfCollide>true</selfCollide>
    </gazebo>
    <gazebo reference="a_bot_forearm_link">
        <selfCollide>true</selfCollide>
    </gazebo>
    <gazebo reference="a_bot_wrist_1_link">
        <selfCollide>true</selfCollide>
    </gazebo>
    <gazebo reference="a_bot_wrist_3_link">
        <selfCollide>true</selfCollide>
    </gazebo>
    <gazebo reference="a_bot_wrist_2_link">
        <selfCollide>true</selfCollide>
    </gazebo>
    <gazebo reference="a_bot_ee_link">
        <selfCollide>true</selfCollide>
    </gazebo>
    <!--
      Inject Gazebo ROS Control plugin, which allows us to use ros_control
      controllers to control the virtual robot hw.
    -->
    <gazebo>
        <plugin filename="libgazebo_ros_control.so" name="ros_control">
            <!--robotNamespace>/</robotNamespace-->
            <!--robotSimType>gazebo_ros_control/DefaultRobotHWSim</robotSimType-->
        </plugin>
    </gazebo>
    <joint name="ground_a_bot_joint" type="fixed">
        <parent link="ground" />
        <child link="a_bot_base_link" />
        <origin rpy="0 0 0" xyz="0 -0.4875 0.77" />
    </joint>
    <!-- Attach mounter for Zivid2+ camera -->
    <!-- <xacro:include filename="$(find aist_description)/devices/urdf/zivid_coupling.urdf.xacro"/> -->
    <!-- <xacro:zivid_coupling prefix="a_bot_zivid_coupling_" parent="a_bot_flange"> -->
    <!--   <origin xyz="0 0 0" rpy="${pi} 0 0" /> -->
    <!-- </xacro:zivid_coupling> -->
    <!-- <!-\- Spawn and attach Zivid2+ camera -\-> -->
    <!-- <xacro:include filename="$(find aist_description -->
    <!-- 			   )/scenes/urdf/load_calibration.urdf.xacro"/> -->
    <!-- <xacro:load_calibration filename="$(find aist_handeye_calibration -->
    <!-- 				    )/calib/a_bot_zivid.yaml"/> -->
    <!-- <xacro:include filename="$(find aist_description -->
    <!-- 			   )/devices/urdf/zivid2plus.urdf.xacro"/> -->
    <!-- <xacro:zivid2plus name="a_bot_zivid" -->
    <!-- 		    parent="a_bot_zivid_coupling_flange_link"> -->
    <!--   <origin xyz="${origin[0]} ${origin[1]} ${origin[2]}" -->
    <!--   	    rpy="${origin[3]} ${origin[4]} ${origin[5]}"/> -->
    <!-- </xacro:zivid2plus> -->
    <link name="a_bot_ftsensor_base_link">
        <visual>
            <origin rpy="3.141592653589793 1.5707963267948966 0" xyz="0.0375 0 0" />
            <geometry>
                <mesh filename="package://aist_robotiq/meshes/visual/ft300.stl" scale="0.001 0.001 0.001" />
            </geometry>
            <material name="Black">
                <color rgba="0.1 0.1 0.1 1" />
            </material>
        </visual>
        <collision>
            <origin rpy="0 1.5707963267948966 0" xyz="0.01875 0 0" />
            <geometry>
                <cylinder length="0.0375" radius="0.0375" />
            </geometry>
        </collision>
        <inertial>
            <mass value="0.1" />
            <origin xyz="0 0 0" rpy="0 0 0" />
            <inertia ixx="0.03" iyy="0.03" izz="0.03" ixy="0.0" ixz="0.0" iyz="0.0" />
        </inertial>
    </link>
    <gazebo reference="a_bot_ftsensor_base_link">
        <material>Gazebo/Black</material>
    </gazebo>
    <!-- Add the force sensor in front of the gripper. -->
    <joint name="a_bot_ftsensor_ft300_joint" type="fixed">
        <parent link="a_bot_flange" />
        <child link="a_bot_ftsensor_base_link" />
        <origin rpy="3.141592653589793 0 0" xyz="0 0 0" />
    </joint>
    <link name="a_bot_ftsensor_flange_link" />
    <joint name="a_bot_ftsensor_flange_joint" type="fixed">
        <parent link="a_bot_ftsensor_base_link" />
        <child link="a_bot_ftsensor_flange_link" />
        <origin rpy="0 0 0" xyz="0.0375 0 0" />
    </joint>
    <link name="a_bot_ftsensor_wrench_link" />
    <joint name="a_bot_ftsensor_wrench_joint" type="fixed">
        <parent link="a_bot_ftsensor_flange_link" />
        <child link="a_bot_ftsensor_wrench_link" />
        <origin rpy="-1.5707963267948966 0 -1.5707963267948966" xyz="0 0 0" />
    </joint>
    <link name="a_bot_gripper_coupling_base_link">
        <inertial>
            <origin rpy="0 0 0" xyz="8.625E-08 -4.6583E-06 0.03145" />
            <mass value="0.22652" />
            <inertia ixx="0.00020005" ixy="-4.2442E-10" ixz="-2.9069E-10" iyy="0.00017832" iyz="-3.4402E-08" izz="0.00013478" />
        </inertial>
        <visual>
            <origin rpy="1.5707963267948966 0 1.5707963267948966" xyz="0.00555 0 0" />
            <geometry>
                <mesh filename="package://aist_robotiq/meshes/visual/robotiq_arg2f_coupling.stl" scale="0.001 0.001 0.001" />
            </geometry>
            <material name="">
                <color rgba="0.1 0.1 0.1 1" />
            </material>
        </visual>
        <collision>
            <origin rpy="0 1.5707963267948966 0" xyz="0.00555 0 0" />
            <geometry>
                <cylinder length="0.0111" radius="0.0375" />
            </geometry>
        </collision>
    </link>
    <gazebo reference="a_bot_gripper_coupling_base_link">
        <material>Gazebo/Black</material>
    </gazebo>
    <joint name="a_bot_gripper_coupling_base_joint" type="fixed">
        <parent link="a_bot_ftsensor_flange_link" />
        <child link="a_bot_gripper_coupling_base_link" />
        <origin rpy="0 0 0" xyz="0 0 0" />
    </joint>
    <link name="a_bot_gripper_coupling_flange_link" />
    <joint name="a_bot_gripper_coupling_flange_joint" type="fixed">
        <parent link="a_bot_gripper_coupling_base_link" />
        <child link="a_bot_gripper_coupling_flange_link" />
        <origin rpy="0 0 0" xyz="0.0111 0 0" />
    </joint>
    <joint name="a_bot_gripper_base_joint" type="fixed">
        <parent link="a_bot_gripper_coupling_flange_link" />
        <child link="a_bot_gripper_base_link" />
        <origin rpy="0 0 0" xyz="0 0 0" />
    </joint>
    <link name="a_bot_gripper_base_link" />
    <joint name="a_bot_gripper_robotiq_arg2f_base_joint" type="fixed">
        <parent link="a_bot_gripper_base_link" />
        <child link="a_bot_gripper_robotiq_arg2f_base_link" />
        <origin rpy="3.141592653589793 -1.5707963267948966 0" xyz="0 0 0" />
    </joint>
    <joint name="a_bot_gripper_tip_link_joint" type="fixed">
        <parent link="a_bot_gripper_base_link" />
        <child link="a_bot_gripper_tip_link" />
        <origin rpy="0.0 -1.5707963267948966 0.0" xyz=".2328 0.0 0.0" />
    </joint>
    <link name="a_bot_gripper_tip_link" />
    <link name="a_bot_gripper_robotiq_arg2f_base_link">
        <inertial>
            <origin rpy="0 0 0" xyz="8.625E-08 -4.6583E-06 0.03145" />
            <mass value="0.22652" />
            <inertia ixx="0.00020005" ixy="-4.2442E-10" ixz="-2.9069E-10" iyy="0.00017832" iyz="-3.4402E-08" izz="0.00013478" />
        </inertial>
        <visual>
            <origin rpy="0 0 0" xyz="0 0 0" />
            <geometry>
                <mesh filename="package://aist_robotiq/meshes/visual/robotiq_arg2f_base_link.stl" />
            </geometry>
            <material name="">
                <color rgba="0.1 0.1 0.1 1" />
            </material>
        </visual>
        <collision>
            <origin rpy="0 0 0" xyz="0 0 0" />
            <geometry>
                <mesh filename="package://aist_robotiq/meshes/collision/robotiq_arg2f_base_link.stl" />
            </geometry>
        </collision>
    </link>
    <gazebo reference="a_bot_gripper_robotiq_arg2f_base_link">
        <material>Gazebo/Black</material>
    </gazebo>
    <link name="a_bot_gripper_left_outer_knuckle">
        <inertial>
            <origin rpy="0 0 0" xyz="-0.000200000000003065        0.0199435877845359        0.0292245259211331" />
            <mass value="0.00853198276973456" />
            <inertia ixx="2.89328108496468E-06" ixy="-1.57935047237397E-19" ixz="-1.93980378593255E-19" iyy="1.86719750325683E-06" iyz="-1.21858577871576E-06" izz="1.21905238907251E-06" />
        </inertial>
        <visual>
            <origin rpy="0 0 0" xyz="0 0 0" />
            <geometry>
                <mesh filename="package://aist_robotiq/meshes/visual/robotiq_arg2f_140_outer_knuckle.stl" />
            </geometry>
            <material name="">
                <color rgba="0.792156862745098          0.819607843137255          0.933333333333333 1" />
            </material>
        </visual>
        <collision>
            <origin rpy="0 0 0" xyz="0 0 0" />
            <geometry>
                <mesh filename="package://aist_robotiq/meshes/collision/robotiq_arg2f_140_outer_knuckle.stl" />
            </geometry>
        </collision>
    </link>
    <gazebo reference="a_bot_gripper_left_outer_knuckle">
        <material>Gazebo/White</material>
    </gazebo>
    <link name="a_bot_gripper_left_outer_finger">
        <inertial>
            <origin rpy="0 0 0" xyz="0.00030115855001899        0.0373907951953854        -0.0208027427000385" />
            <mass value="0.022614240507152" />
            <inertia ixx="1.52518312458174E-05" ixy="9.76583423954399E-10" ixz="-5.43838577022588E-10" iyy="6.17694243867776E-06" iyz="6.78636130740228E-06" izz="1.16494917907219E-05" />
        </inertial>
        <visual>
            <origin rpy="0 0 0" xyz="0 0 0" />
            <geometry>
                <mesh filename="package://aist_robotiq/meshes/visual/robotiq_arg2f_140_outer_finger.stl" />
            </geometry>
            <material name="">
                <color rgba="0.1 0.1 0.1 1" />
            </material>
        </visual>
        <collision>
            <origin rpy="0 0 0" xyz="0 0 0" />
            <geometry>
                <mesh filename="package://aist_robotiq/meshes/collision/robotiq_arg2f_140_outer_finger.stl" />
            </geometry>
        </collision>
    </link>
    <gazebo reference="a_bot_gripper_left_outer_finger">
        <material>Gazebo/Black</material>
    </gazebo>
    <link name="a_bot_gripper_left_inner_finger">
        <inertial>
            <origin rpy="0 0 0" xyz="0.000299999999999317        0.0160078233491243        -0.0136945669206257" />
            <mass value="0.0104003125914103" />
            <inertia ixx="2.71909453810972E-06" ixy="1.35402465472579E-21" ixz="-7.1817349065269E-22" iyy="7.69100314106116E-07" iyz="6.74715432769696E-07" izz="2.30315190420171E-06" />
        </inertial>
        <visual>
            <origin rpy="0 0 0" xyz="0 0 0" />
            <geometry>
                <mesh filename="package://aist_robotiq/meshes/visual/robotiq_arg2f_140_inner_finger.stl" />
            </geometry>
            <material name="">
                <color rgba="0.1 0.1 0.1 1" />
            </material>
        </visual>
        <collision>
            <origin rpy="0 0 0" xyz="0 0 0" />
            <geometry>
                <mesh filename="package://aist_robotiq/meshes/collision/robotiq_arg2f_140_inner_finger.stl" />
            </geometry>
        </collision>
    </link>
    <gazebo reference="a_bot_gripper_left_inner_finger">
        <material>Gazebo/White</material>
    </gazebo>
    <link name="a_bot_gripper_left_inner_finger_pad">
        <visual>
            <origin rpy="0 0 0" xyz="0 0 0" />
            <geometry>
                <box size="0.027 0.065 0.0075" />
            </geometry>
            <material name="">
                <color rgba="0.9 0.9 0.9 1" />
            </material>
        </visual>
        <collision>
            <origin rpy="0 0 0" xyz="0 0 0" />
            <geometry>
                <box size="0.027 0.065 0.0075" />
            </geometry>
            <material name="">
                <color rgba="0.9 0.0 0.0 1" />
            </material>
        </collision>
        <inertial>
            <mass value="0.1" />
            <origin xyz="0 0 0" rpy="0 0 0" />
            <inertia ixx="0.03" iyy="0.03" izz="0.03" ixy="0.0" ixz="0.0" iyz="0.0" />
        </inertial>
    </link>
    <gazebo reference="a_bot_gripper_left_inner_finger_pad">
        <material>Gazebo/Black</material>
    </gazebo>
    <link name="a_bot_gripper_left_inner_knuckle">
        <inertial>
            <origin rpy="0 0 0" xyz="0.000123011831763771        0.0507850843201817        0.00103968640075166" />
            <mass value="0.0271177346495152" />
            <inertia ixx="2.61910379223783E-05" ixy="-2.43616858946494E-07" ixz="-6.37789906117123E-09" iyy="2.8270243746167E-06" iyz="-5.37200748039765E-07" izz="2.83695868220296E-05" />
        </inertial>
        <visual>
            <origin rpy="0 0 0" xyz="0 0 0" />
            <geometry>
                <mesh filename="package://aist_robotiq/meshes/visual/robotiq_arg2f_140_inner_knuckle.stl" />
            </geometry>
            <material name="">
                <color rgba="0.1 0.1 0.1 1" />
            </material>
        </visual>
        <collision>
            <origin rpy="0 0 0" xyz="0 0 0" />
            <geometry>
                <mesh filename="package://aist_robotiq/meshes/collision/robotiq_arg2f_140_inner_knuckle.stl" />
            </geometry>
        </collision>
    </link>
    <gazebo reference="a_bot_gripper_left_inner_knuckle">
        <material>Gazebo/Black</material>
    </gazebo>
    <link name="a_bot_gripper_right_outer_knuckle">
        <inertial>
            <origin rpy="0 0 0" xyz="-0.000200000000003065        0.0199435877845359        0.0292245259211331" />
            <mass value="0.00853198276973456" />
            <inertia ixx="2.89328108496468E-06" ixy="-1.57935047237397E-19" ixz="-1.93980378593255E-19" iyy="1.86719750325683E-06" iyz="-1.21858577871576E-06" izz="1.21905238907251E-06" />
        </inertial>
        <visual>
            <origin rpy="0 0 0" xyz="0 0 0" />
            <geometry>
                <mesh filename="package://aist_robotiq/meshes/visual/robotiq_arg2f_140_outer_knuckle.stl" />
            </geometry>
            <material name="">
                <color rgba="0.792156862745098          0.819607843137255          0.933333333333333 1" />
            </material>
        </visual>
        <collision>
            <origin rpy="0 0 0" xyz="0 0 0" />
            <geometry>
                <mesh filename="package://aist_robotiq/meshes/collision/robotiq_arg2f_140_outer_knuckle.stl" />
            </geometry>
        </collision>
    </link>
    <gazebo reference="a_bot_gripper_right_outer_knuckle">
        <material>Gazebo/White</material>
    </gazebo>
    <link name="a_bot_gripper_right_outer_finger">
        <inertial>
            <origin rpy="0 0 0" xyz="0.00030115855001899        0.0373907951953854        -0.0208027427000385" />
            <mass value="0.022614240507152" />
            <inertia ixx="1.52518312458174E-05" ixy="9.76583423954399E-10" ixz="-5.43838577022588E-10" iyy="6.17694243867776E-06" iyz="6.78636130740228E-06" izz="1.16494917907219E-05" />
        </inertial>
        <visual>
            <origin rpy="0 0 0" xyz="0 0 0" />
            <geometry>
                <mesh filename="package://aist_robotiq/meshes/visual/robotiq_arg2f_140_outer_finger.stl" />
            </geometry>
            <material name="">
                <color rgba="0.1 0.1 0.1 1" />
            </material>
        </visual>
        <collision>
            <origin rpy="0 0 0" xyz="0 0 0" />
            <geometry>
                <mesh filename="package://aist_robotiq/meshes/collision/robotiq_arg2f_140_outer_finger.stl" />
            </geometry>
        </collision>
    </link>
    <gazebo reference="a_bot_gripper_right_outer_finger">
        <material>Gazebo/Black</material>
    </gazebo>
    <link name="a_bot_gripper_right_inner_finger">
        <inertial>
            <origin rpy="0 0 0" xyz="0.000299999999999317        0.0160078233491243        -0.0136945669206257" />
            <mass value="0.0104003125914103" />
            <inertia ixx="2.71909453810972E-06" ixy="1.35402465472579E-21" ixz="-7.1817349065269E-22" iyy="7.69100314106116E-07" iyz="6.74715432769696E-07" izz="2.30315190420171E-06" />
        </inertial>
        <visual>
            <origin rpy="0 0 0" xyz="0 0 0" />
            <geometry>
                <mesh filename="package://aist_robotiq/meshes/visual/robotiq_arg2f_140_inner_finger.stl" />
            </geometry>
            <material name="">
                <color rgba="0.1 0.1 0.1 1" />
            </material>
        </visual>
        <collision>
            <origin rpy="0 0 0" xyz="0 0 0" />
            <geometry>
                <mesh filename="package://aist_robotiq/meshes/collision/robotiq_arg2f_140_inner_finger.stl" />
            </geometry>
        </collision>
    </link>
    <gazebo reference="a_bot_gripper_right_inner_finger">
        <material>Gazebo/White</material>
    </gazebo>
    <link name="a_bot_gripper_right_inner_finger_pad">
        <visual>
            <origin rpy="0 0 0" xyz="0 0 0" />
            <geometry>
                <box size="0.027 0.065 0.0075" />
            </geometry>
            <material name="">
                <color rgba="0.9 0.9 0.9 1" />
            </material>
        </visual>
        <collision>
            <origin rpy="0 0 0" xyz="0 0 0" />
            <geometry>
                <box size="0.027 0.065 0.0075" />
            </geometry>
            <material name="">
                <color rgba="0.9 0.0 0.0 1" />
            </material>
        </collision>
        <inertial>
            <mass value="0.1" />
            <origin xyz="0 0 0" rpy="0 0 0" />
            <inertia ixx="0.03" iyy="0.03" izz="0.03" ixy="0.0" ixz="0.0" iyz="0.0" />
        </inertial>
    </link>
    <gazebo reference="a_bot_gripper_right_inner_finger_pad">
        <material>Gazebo/Black</material>
    </gazebo>
    <link name="a_bot_gripper_right_inner_knuckle">
        <inertial>
            <origin rpy="0 0 0" xyz="0.000123011831763771        0.0507850843201817        0.00103968640075166" />
            <mass value="0.0271177346495152" />
            <inertia ixx="2.61910379223783E-05" ixy="-2.43616858946494E-07" ixz="-6.37789906117123E-09" iyy="2.8270243746167E-06" iyz="-5.37200748039765E-07" izz="2.83695868220296E-05" />
        </inertial>
        <visual>
            <origin rpy="0 0 0" xyz="0 0 0" />
            <geometry>
                <mesh filename="package://aist_robotiq/meshes/visual/robotiq_arg2f_140_inner_knuckle.stl" />
            </geometry>
            <material name="">
                <color rgba="0.1 0.1 0.1 1" />
            </material>
        </visual>
        <collision>
            <origin rpy="0 0 0" xyz="0 0 0" />
            <geometry>
                <mesh filename="package://aist_robotiq/meshes/collision/robotiq_arg2f_140_inner_knuckle.stl" />
            </geometry>
        </collision>
    </link>
    <gazebo reference="a_bot_gripper_right_inner_knuckle">
        <material>Gazebo/Black</material>
    </gazebo>
    <joint name="a_bot_gripper_finger_joint" type="revolute">
        <origin rpy="2.2957963267948966 0 0" xyz="0 -0.030601 0.054905" />
        <parent link="a_bot_gripper_robotiq_arg2f_base_link" />
        <child link="a_bot_gripper_left_outer_knuckle" />
        <axis xyz="-1 0 0" />
        <limit effort="1000" lower="0" upper="0.7" velocity="2.0" />
    </joint>
    <joint name="a_bot_gripper_left_outer_finger_joint" type="fixed">
        <origin rpy="0 0 0" xyz="0 0.01821998610742 0.0260018192872234" />
        <parent link="a_bot_gripper_left_outer_knuckle" />
        <child link="a_bot_gripper_left_outer_finger" />
        <axis xyz="1 0 0" />
    </joint>
    <joint name="a_bot_gripper_left_inner_knuckle_joint" type="revolute">
        <origin rpy="2.2957963267948966 0 0.0" xyz="0 -0.0127 0.06142" />
        <parent link="a_bot_gripper_robotiq_arg2f_base_link" />
        <child link="a_bot_gripper_left_inner_knuckle" />
        <axis xyz="-1 0 0" />
        <limit effort="1000" lower="-0.8757" upper="0.8757" velocity="2.0" />
        <mimic joint="a_bot_gripper_finger_joint" multiplier="1" offset="0" />
    </joint>
    <joint name="a_bot_gripper_left_inner_finger_joint" type="revolute">
        <origin rpy="-0.725 0 0" xyz="0 0.0817554015893473 -0.0282203446692936" />
        <parent link="a_bot_gripper_left_outer_finger" />
        <child link="a_bot_gripper_left_inner_finger" />
        <axis xyz="-1 0 0" />
        <limit effort="1000" lower="-0.8757" upper="0.8757" velocity="2.0" />
        <mimic joint="a_bot_gripper_finger_joint" multiplier="-1" offset="0" />
    </joint>
    <joint name="a_bot_gripper_left_inner_finger_pad_joint" type="fixed">
        <origin rpy="0 0 0" xyz="0 0.0457554015893473 -0.0272203446692936" />
        <parent link="a_bot_gripper_left_inner_finger" />
        <child link="a_bot_gripper_left_inner_finger_pad" />
        <axis xyz="0 0 1" />
    </joint>
    <joint name="a_bot_gripper_right_outer_knuckle_joint" type="revolute">
        <origin rpy="2.2957963267948966 0 3.141592653589793" xyz="0 0.030601 0.054905" />
        <parent link="a_bot_gripper_robotiq_arg2f_base_link" />
        <child link="a_bot_gripper_right_outer_knuckle" />
        <axis xyz="-1 0 0" />
        <limit effort="1000" lower="-0.725" upper="0.725" velocity="2.0" />
        <mimic joint="a_bot_gripper_finger_joint" multiplier="1" offset="0" />
    </joint>
    <joint name="a_bot_gripper_right_outer_finger_joint" type="fixed">
        <origin rpy="0 0 0" xyz="0 0.01821998610742 0.0260018192872234" />
        <parent link="a_bot_gripper_right_outer_knuckle" />
        <child link="a_bot_gripper_right_outer_finger" />
        <axis xyz="1 0 0" />
    </joint>
    <joint name="a_bot_gripper_right_inner_knuckle_joint" type="revolute">
        <origin rpy="2.2957963267948966 0 -3.141592653589793" xyz="0 0.0127 0.06142" />
        <parent link="a_bot_gripper_robotiq_arg2f_base_link" />
        <child link="a_bot_gripper_right_inner_knuckle" />
        <axis xyz="-1 0 0" />
        <limit effort="1000" lower="-0.8757" upper="0.8757" velocity="2.0" />
        <mimic joint="a_bot_gripper_finger_joint" multiplier="1" offset="0" />
    </joint>
    <joint name="a_bot_gripper_right_inner_finger_joint" type="revolute">
        <origin rpy="-0.725 0 0" xyz="0 0.0817554015893473 -0.0282203446692936" />
        <parent link="a_bot_gripper_right_outer_finger" />
        <child link="a_bot_gripper_right_inner_finger" />
        <axis xyz="-1 0 0" />
        <limit effort="1000" lower="-0.8757" upper="0.8757" velocity="2.0" />
        <mimic joint="a_bot_gripper_finger_joint" multiplier="-1" offset="0" />
    </joint>
    <joint name="a_bot_gripper_right_inner_finger_pad_joint" type="fixed">
        <origin rpy="0 0 0" xyz="0 0.0457554015893473 -0.0272203446692936" />
        <parent link="a_bot_gripper_right_inner_finger" />
        <child link="a_bot_gripper_right_inner_finger_pad" />
        <axis xyz="0 0 1" />
    </joint>
    <transmission name="a_bot_gripper_finger_joint_trans">
        <type>transmission_interface/SimpleTransmission</type>
        <joint name="a_bot_gripper_finger_joint">
            <hardwareInterface>hardware_interface/PositionJointInterface</hardwareInterface>
        </joint>
        <actuator name="a_bot_gripper_finger_joint_motor">
            <mechanicalReduction>1</mechanicalReduction>
            <hardwareInterface>hardware_interface/EffortJointInterface</hardwareInterface>
        </actuator>
    </transmission>
    <!-- Mimic joints -->
    <gazebo>
        <plugin filename="libgazebo_mimic_joint_plugin.so" name="a_bot_gripper_mimic_right_outer_knuckle_joint">
            <joint>a_bot_gripper_finger_joint</joint>
            <mimicJoint>a_bot_gripper_right_outer_knuckle_joint</mimicJoint>
        </plugin>
        <plugin filename="libgazebo_mimic_joint_plugin.so" name="a_bot_gripper_mimic_left_inner_knuckle_joint">
            <joint>a_bot_gripper_finger_joint</joint>
            <mimicJoint>a_bot_gripper_left_inner_knuckle_joint</mimicJoint>
        </plugin>
        <plugin filename="libgazebo_mimic_joint_plugin.so" name="a_bot_gripper_mimic_right_inner_knuckle_joint">
            <joint>a_bot_gripper_finger_joint</joint>
            <mimicJoint>a_bot_gripper_right_inner_knuckle_joint</mimicJoint>
        </plugin>
        <plugin filename="libgazebo_mimic_joint_plugin.so" name="a_bot_gripper_mimic_left_inner_finger_joint">
            <joint>a_bot_gripper_finger_joint</joint>
            <mimicJoint>a_bot_gripper_left_inner_finger_joint</mimicJoint>
            <multiplier>-1.0</multiplier>
            <offset>0.0</offset>
        </plugin>
        <plugin filename="libgazebo_mimic_joint_plugin.so" name="a_bot_gripper_mimic_right_inner_finger_joint">
            <joint>a_bot_gripper_finger_joint</joint>
            <mimicJoint>a_bot_gripper_right_inner_finger_joint</mimicJoint>
            <multiplier>-1.0</multiplier>
            <offset>0.0</offset>
        </plugin>
    </gazebo>
    <link name="a_bot_camera_mount">
        <inertial>
            <origin rpy="3.141592653589793 0 1.5707963267948966" xyz="0 0 0.0" />
            <mass value="1.0" />
            <inertia ixx="1.0" ixy="0" ixz="0" iyy="1.0" iyz="0" izz="1.0" />
        </inertial>
        <visual>
            <origin rpy="3.141592653589793 0 1.5707963267948966" xyz="0 0 0.0" />
            <geometry>
                <mesh filename="package://aist_description/devices/meshes/sr305_mount.stl" scale=".001 .001 .001" />
            </geometry>
            <material name="white">
                <color rgba="1 1 1 1" />
            </material>
        </visual>
        <collision>
            <origin rpy="0 0 0" xyz="-.01 0.0 .035" />
            <geometry>
                <box size=".03 .12 .08" />
            </geometry>
        </collision>
    </link>
    <joint name="a_bot_camera_mount_joint" type="fixed">
        <parent link="a_bot_gripper_base_link" />
        <child link="a_bot_camera_mount" />
        <origin rpy="0 0 0" xyz="0.035 0.0 0.025" />
    </joint>
    <!-- Left sensor (looking from front):  -7.54 mm, 0, -3.721 mm -->
    <!-- Right sensor (RGB?)(looking from front): 16.492 mm, 0, -3.721 mm -->
    <!-- 24.033 mm distance between the camera centers, apparently -->
    <!-- camera mount to origin: 4mm; cameras to origin: 3.721 mm. = 7.721 mm offset? -->
    <!-- I forgot which conventions exist for "camera_joint" and "camera_link_joint" so I hesitate to delete one. -->
    <joint name="a_bot_inside_camera_joint" type="fixed">
        <origin rpy="0.02104566011309687      0.3968034960518725      0.01313899562905875" xyz="0.0051834717267641005      0.0029869415393767723      0.06398615295764885" />
        <parent link="a_bot_gripper_base_link" />
        <child link="a_bot_inside_camera_connector_link" />
    </joint>
    <link name="a_bot_inside_camera_connector_link" />
    <joint name="a_bot_inside_camera_link_joint" type="fixed">
        <origin rpy="0 0 0" xyz="0 0 0" />
        <parent link="a_bot_inside_camera_connector_link" />
        <child link="a_bot_inside_camera_link" />
    </joint>
    <link name="a_bot_inside_camera_link">
        <visual>
            <origin rpy="1.5707963267948966 0 1.5707963267948966" xyz="0 -0.0 0" />
            <geometry>
                <mesh filename="package://realsense2_description/meshes/sr305_without_mount.stl" scale=".001 .001 .001" />
            </geometry>
            <material name="sr305_aluminum">
                <color rgba="0.5 0.5 0.5 1" />
            </material>
        </visual>
        <collision>
            <origin rpy="0 0 0" xyz="0.006 -0.0 0" />
            <geometry>
                <box size="0.012 0.14 0.023" />
            </geometry>
        </collision>
        <inertial>
            <!-- The following are not reliable values, and should not be used for modeling -->
            <mass value="0.564" />
            <origin xyz="0 0 0" rpy="0 0 0" />
            <inertia ixx="0.003881243" ixy="0.0" ixz="0.0" iyy="0.000498940" iyz="0.0" izz="0.003879257" />
        </inertial>
    </link>
    <!-- camera depth joints and links -->
    <joint name="a_bot_inside_camera_depth_joint" type="fixed">
        <origin rpy="0 0 0" xyz=".003721 0 0" />
        <parent link="a_bot_inside_camera_link" />
        <child link="a_bot_inside_camera_depth_frame" />
    </joint>
    <link name="a_bot_inside_camera_depth_frame" />
    <joint name="a_bot_inside_camera_depth_optical_joint" type="fixed">
        <origin rpy="-1.5707963267948966 0 -1.5707963267948966" xyz="0 0 0" />
        <parent link="a_bot_inside_camera_depth_frame" />
        <child link="a_bot_inside_camera_depth_optical_frame" />
    </joint>
    <link name="a_bot_inside_camera_depth_optical_frame" />
    <!-- camera left IR joints and links -->
    <joint name="a_bot_inside_camera_left_ir_joint" type="fixed">
        <origin rpy="0 0 0" xyz="0 0.0 0" />
        <parent link="a_bot_inside_camera_depth_frame" />
        <child link="a_bot_inside_camera_left_ir_frame" />
    </joint>
    <link name="a_bot_inside_camera_left_ir_frame" />
    <joint name="a_bot_inside_camera_left_ir_optical_joint" type="fixed">
        <origin rpy="-1.5707963267948966 0 -1.5707963267948966" xyz="0 0 0" />
        <parent link="a_bot_inside_camera_left_ir_frame" />
        <child link="a_bot_inside_camera_left_ir_optical_frame" />
    </joint>
    <link name="a_bot_inside_camera_left_ir_optical_frame" />
    <!-- camera right IR joints and links -->
    <joint name="a_bot_inside_camera_right_ir_joint" type="fixed">
        <origin rpy="0 0 0" xyz="0 0.04 0" />
        <parent link="a_bot_inside_camera_depth_frame" />
        <child link="a_bot_inside_camera_right_ir_frame" />
    </joint>
    <link name="a_bot_inside_camera_right_ir_frame" />
    <joint name="a_bot_inside_camera_right_ir_optical_joint" type="fixed">
        <origin rpy="-1.5707963267948966 0 -1.5707963267948966" xyz="0 0 0" />
        <parent link="a_bot_inside_camera_right_ir_frame" />
        <child link="a_bot_inside_camera_right_ir_optical_frame" />
    </joint>
    <link name="a_bot_inside_camera_right_ir_optical_frame" />
    <!-- camera color joints and links -->
    <joint name="a_bot_inside_camera_color_joint" type="fixed">
        <origin rpy="0 0 0" xyz="0 0.015 0" />
        <parent link="a_bot_inside_camera_depth_frame" />
        <child link="a_bot_inside_camera_color_frame" />
    </joint>
    <link name="a_bot_inside_camera_color_frame" />
    <joint name="a_bot_inside_camera_color_optical_joint" type="fixed">
        <origin rpy="-1.5707963267948966 0 -1.5707963267948966" xyz="0 0 0" />
        <parent link="a_bot_inside_camera_color_frame" />
        <child link="a_bot_inside_camera_color_optical_frame" />
    </joint>
    <link name="a_bot_inside_camera_color_optical_frame" />
    <!-- Reference should be color_frame because depth is alighed to color -->
    <gazebo reference="a_bot_inside_camera_color_frame">
        <sensor name="a_bot_inside_camera" type="depth">
            <always_on>true</always_on>
            <visualize>true</visualize>
            <camera>
                <!-- Color sensor's FOV(VGA): 68 deg. -->
                <horizontal_fov>1.1868</horizontal_fov>
                <image>
                    <!-- VGA -->
                    <width>640</width>
                    <height>480</height>
                    <format>R8G8B8</format>
                </image>
                <depth_camera />
                <clip>
                    <near>0.1</near>
                    <far>100</far>
                </clip>
            </camera>
            <plugin filename="libgazebo_ros_openni_kinect.so" name="a_bot_inside_camera_controller">
                <baseline>0.048</baseline>
                <alwaysOn>true</alwaysOn>
                <updateRate>10.0</updateRate>
                <cameraName>a_bot_inside_camera</cameraName>
                <frameName>a_bot_inside_camera_color_optical_frame</frameName>
                <imageTopicName>color/image_raw</imageTopicName>
                <cameraInfoTopicName>color/camera_info</cameraInfoTopicName>
                <depthImageTopicName>aligned_depth_to_color/image_raw</depthImageTopicName>
                <depthImageCameraInfoTopicName>aligned_depth_to_color/camera_info</depthImageCameraInfoTopicName>
                <pointCloudTopicName>depth/color/points</pointCloudTopicName>
                <pointCloudCutoff>0.1</pointCloudCutoff>
                <!-- <hackBaseline>0.07</hackBaseline> -->
                <distortionK1>0.0</distortionK1>
                <distortionK2>0.0</distortionK2>
                <distortionK3>0.0</distortionK3>
                <distortionT1>0.0</distortionT1>
                <distortionT2>0.0</distortionT2>
                <CxPrime>0.0</CxPrime>
                <Cx>0.0</Cx>
                <Cy>0.0</Cy>
                <focalLength>0.0</focalLength>
            </plugin>
        </sensor>
    </gazebo>
    <!-- Left sensor (looking from front):  -7.54 mm, 0, -3.721 mm -->
    <!-- Right sensor (RGB?)(looking from front): 16.492 mm, 0, -3.721 mm -->
    <!-- 24.033 mm distance between the camera centers, apparently -->
    <!-- camera mount to origin: 4mm; cameras to origin: 3.721 mm. = 7.721 mm offset? -->
    <!-- I forgot which conventions exist for "camera_joint" and "camera_link_joint" so I hesitate to delete one. -->
    <joint name="a_bot_outside_camera_joint" type="fixed">
        <origin rpy="0.013998136792162967      -0.22309733722281236      0.035938176557628945" xyz="0.03448420081903219      -0.008163711886056418      0.08142610495899788" />
        <parent link="a_bot_gripper_base_link" />
        <child link="a_bot_outside_camera_connector_link" />
    </joint>
    <link name="a_bot_outside_camera_connector_link" />
    <joint name="a_bot_outside_camera_link_joint" type="fixed">
        <origin rpy="0 0 0" xyz="0 0 0" />
        <parent link="a_bot_outside_camera_connector_link" />
        <child link="a_bot_outside_camera_link" />
    </joint>
    <link name="a_bot_outside_camera_link">
        <visual>
            <origin rpy="1.5707963267948966 0 1.5707963267948966" xyz="0 -0.0 0" />
            <geometry>
                <mesh filename="package://realsense2_description/meshes/sr305_without_mount.stl" scale=".001 .001 .001" />
            </geometry>
            <material name="sr305_aluminum">
                <color rgba="0.5 0.5 0.5 1" />
            </material>
        </visual>
        <collision>
            <origin rpy="0 0 0" xyz="0.006 -0.0 0" />
            <geometry>
                <box size="0.012 0.14 0.023" />
            </geometry>
        </collision>
        <inertial>
            <!-- The following are not reliable values, and should not be used for modeling -->
            <mass value="0.564" />
            <origin xyz="0 0 0" rpy="0 0 0" />
            <inertia ixx="0.003881243" ixy="0.0" ixz="0.0" iyy="0.000498940" iyz="0.0" izz="0.003879257" />
        </inertial>
    </link>
    <!-- camera depth joints and links -->
    <joint name="a_bot_outside_camera_depth_joint" type="fixed">
        <origin rpy="0 0 0" xyz=".003721 0 0" />
        <parent link="a_bot_outside_camera_link" />
        <child link="a_bot_outside_camera_depth_frame" />
    </joint>
    <link name="a_bot_outside_camera_depth_frame" />
    <joint name="a_bot_outside_camera_depth_optical_joint" type="fixed">
        <origin rpy="-1.5707963267948966 0 -1.5707963267948966" xyz="0 0 0" />
        <parent link="a_bot_outside_camera_depth_frame" />
        <child link="a_bot_outside_camera_depth_optical_frame" />
    </joint>
    <link name="a_bot_outside_camera_depth_optical_frame" />
    <!-- camera left IR joints and links -->
    <joint name="a_bot_outside_camera_left_ir_joint" type="fixed">
        <origin rpy="0 0 0" xyz="0 0.0 0" />
        <parent link="a_bot_outside_camera_depth_frame" />
        <child link="a_bot_outside_camera_left_ir_frame" />
    </joint>
    <link name="a_bot_outside_camera_left_ir_frame" />
    <joint name="a_bot_outside_camera_left_ir_optical_joint" type="fixed">
        <origin rpy="-1.5707963267948966 0 -1.5707963267948966" xyz="0 0 0" />
        <parent link="a_bot_outside_camera_left_ir_frame" />
        <child link="a_bot_outside_camera_left_ir_optical_frame" />
    </joint>
    <link name="a_bot_outside_camera_left_ir_optical_frame" />
    <!-- camera right IR joints and links -->
    <joint name="a_bot_outside_camera_right_ir_joint" type="fixed">
        <origin rpy="0 0 0" xyz="0 0.04 0" />
        <parent link="a_bot_outside_camera_depth_frame" />
        <child link="a_bot_outside_camera_right_ir_frame" />
    </joint>
    <link name="a_bot_outside_camera_right_ir_frame" />
    <joint name="a_bot_outside_camera_right_ir_optical_joint" type="fixed">
        <origin rpy="-1.5707963267948966 0 -1.5707963267948966" xyz="0 0 0" />
        <parent link="a_bot_outside_camera_right_ir_frame" />
        <child link="a_bot_outside_camera_right_ir_optical_frame" />
    </joint>
    <link name="a_bot_outside_camera_right_ir_optical_frame" />
    <!-- camera color joints and links -->
    <joint name="a_bot_outside_camera_color_joint" type="fixed">
        <origin rpy="0 0 0" xyz="0 0.015 0" />
        <parent link="a_bot_outside_camera_depth_frame" />
        <child link="a_bot_outside_camera_color_frame" />
    </joint>
    <link name="a_bot_outside_camera_color_frame" />
    <joint name="a_bot_outside_camera_color_optical_joint" type="fixed">
        <origin rpy="-1.5707963267948966 0 -1.5707963267948966" xyz="0 0 0" />
        <parent link="a_bot_outside_camera_color_frame" />
        <child link="a_bot_outside_camera_color_optical_frame" />
    </joint>
    <link name="a_bot_outside_camera_color_optical_frame" />
    <!-- Reference should be color_frame because depth is alighed to color -->
    <gazebo reference="a_bot_outside_camera_color_frame">
        <sensor name="a_bot_outside_camera" type="depth">
            <always_on>true</always_on>
            <visualize>true</visualize>
            <camera>
                <!-- Color sensor's FOV(VGA): 68 deg. -->
                <horizontal_fov>1.1868</horizontal_fov>
                <image>
                    <!-- VGA -->
                    <width>640</width>
                    <height>480</height>
                    <format>R8G8B8</format>
                </image>
                <depth_camera />
                <clip>
                    <near>0.1</near>
                    <far>100</far>
                </clip>
            </camera>
            <plugin filename="libgazebo_ros_openni_kinect.so" name="a_bot_outside_camera_controller">
                <baseline>0.048</baseline>
                <alwaysOn>true</alwaysOn>
                <updateRate>10.0</updateRate>
                <cameraName>a_bot_outside_camera</cameraName>
                <frameName>a_bot_outside_camera_color_optical_frame</frameName>
                <imageTopicName>color/image_raw</imageTopicName>
                <cameraInfoTopicName>color/camera_info</cameraInfoTopicName>
                <depthImageTopicName>aligned_depth_to_color/image_raw</depthImageTopicName>
                <depthImageCameraInfoTopicName>aligned_depth_to_color/camera_info</depthImageCameraInfoTopicName>
                <pointCloudTopicName>depth/color/points</pointCloudTopicName>
                <pointCloudCutoff>0.1</pointCloudCutoff>
                <!-- <hackBaseline>0.07</hackBaseline> -->
                <distortionK1>0.0</distortionK1>
                <distortionK2>0.0</distortionK2>
                <distortionK3>0.0</distortionK3>
                <distortionT1>0.0</distortionT1>
                <distortionT2>0.0</distortionT2>
                <CxPrime>0.0</CxPrime>
                <Cx>0.0</Cx>
                <Cy>0.0</Cy>
                <focalLength>0.0</focalLength>
            </plugin>
        </sensor>
    </gazebo>
    <!-- I would like to remove the "world" link definition, but apparently it is necessary for Gazebo -->
    <link name="world" />
    <joint name="world_ground_joint" type="fixed">
        <parent link="world" />
        <child link="ground" />
        <origin rpy="0 0 0" xyz="0 0 0" />
    </joint>
    <transmission name="trans_a_bot_gripper_left_inner_knuckle_joint">
        <type>transmission_interface/SimpleTransmission</type>
        <joint name="a_bot_gripper_left_inner_knuckle_joint">
            <hardwareInterface>hardware_interface/EffortJointInterface</hardwareInterface>
        </joint>
        <actuator name="a_bot_gripper_left_inner_knuckle_joint_motor">
            <hardwareInterface>hardware_interface/EffortJointInterface</hardwareInterface>
            <mechanicalReduction>1</mechanicalReduction>
        </actuator>
    </transmission>
    <transmission name="trans_a_bot_gripper_left_inner_finger_joint">
        <type>transmission_interface/SimpleTransmission</type>
        <joint name="a_bot_gripper_left_inner_finger_joint">
            <hardwareInterface>hardware_interface/EffortJointInterface</hardwareInterface>
        </joint>
        <actuator name="a_bot_gripper_left_inner_finger_joint_motor">
            <hardwareInterface>hardware_interface/EffortJointInterface</hardwareInterface>
            <mechanicalReduction>1</mechanicalReduction>
        </actuator>
    </transmission>
    <transmission name="trans_a_bot_gripper_right_outer_knuckle_joint">
        <type>transmission_interface/SimpleTransmission</type>
        <joint name="a_bot_gripper_right_outer_knuckle_joint">
            <hardwareInterface>hardware_interface/EffortJointInterface</hardwareInterface>
        </joint>
        <actuator name="a_bot_gripper_right_outer_knuckle_joint_motor">
            <hardwareInterface>hardware_interface/EffortJointInterface</hardwareInterface>
            <mechanicalReduction>1</mechanicalReduction>
        </actuator>
    </transmission>
    <transmission name="trans_a_bot_gripper_right_inner_knuckle_joint">
        <type>transmission_interface/SimpleTransmission</type>
        <joint name="a_bot_gripper_right_inner_knuckle_joint">
            <hardwareInterface>hardware_interface/EffortJointInterface</hardwareInterface>
        </joint>
        <actuator name="a_bot_gripper_right_inner_knuckle_joint_motor">
            <hardwareInterface>hardware_interface/EffortJointInterface</hardwareInterface>
            <mechanicalReduction>1</mechanicalReduction>
        </actuator>
    </transmission>
    <transmission name="trans_a_bot_gripper_right_inner_finger_joint">
        <type>transmission_interface/SimpleTransmission</type>
        <joint name="a_bot_gripper_right_inner_finger_joint">
            <hardwareInterface>hardware_interface/EffortJointInterface</hardwareInterface>
        </joint>
        <actuator name="a_bot_gripper_right_inner_finger_joint_motor">
            <hardwareInterface>hardware_interface/EffortJointInterface</hardwareInterface>
            <mechanicalReduction>1</mechanicalReduction>
        </actuator>
    </transmission>
</robot>
